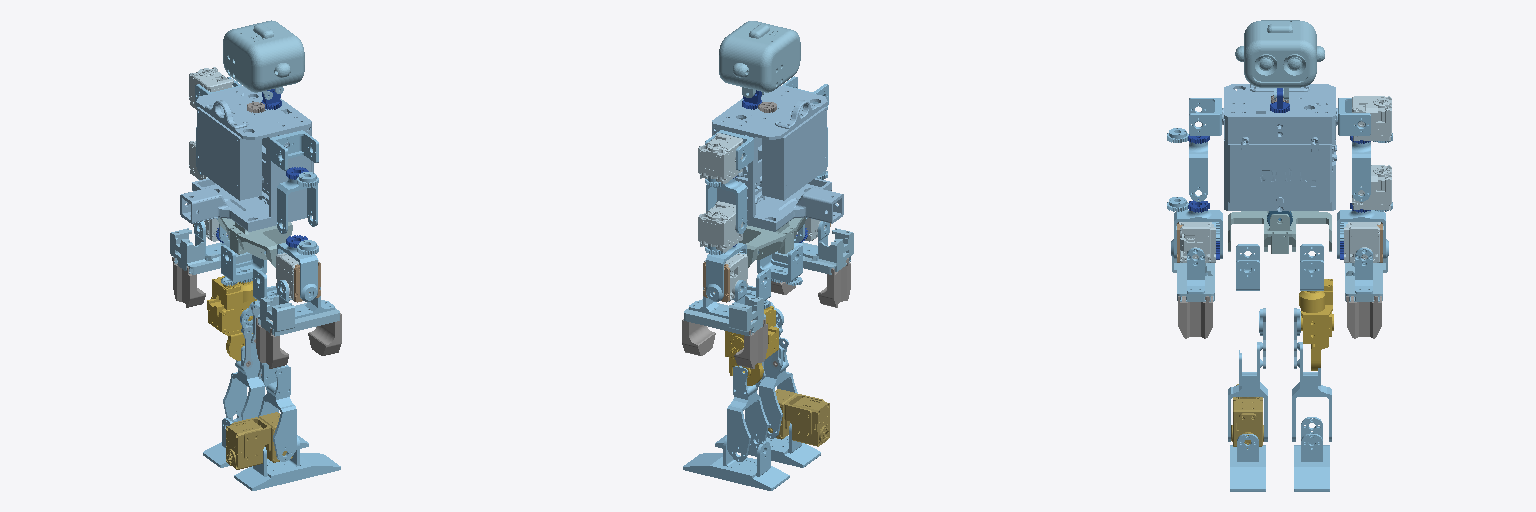
--- Render facts (derived) ---
Views: 3 orthographic renders of the robot side by side, from view 1: azimuth 30°, elevation 25°; view 2: azimuth 150°, elevation 25°; view 3: azimuth 270°, elevation 25°.
Model toddlerbot_gripper with 77 links and 76 joints (58 revolute, 4 prismatic, 14 fixed), rooted at torso, posed all joints at 0.
Visible links, largest first — view 1: torso, head, ank_roll_link_2, right_calf_link, right_ank_pitch_link, left_hip_pitch_link, left_calf_link, right_rail_guide, waist_link, left_rail_guide, sho_pitch_link_2, sho_yaw_link_2 (+9 smaller); view 2: torso, head, left_calf_link, ank_roll_link, right_ank_pitch_link, left_rail_guide, right_calf_link, 2xl430_gears, 2xl430_gears_2, waist_link, right_rail_guide, ank_roll_link_2 (+10 smaller); view 3: torso, head, ank_roll_link, waist_link, left_hip_pitch_link, ank_roll_link_2, 2xl430_gears, right_ank_pitch_link, right_calf_link, 2xl430_gears_3, 2xl430_gears_6, rail_2 (+15 smaller).
Boxes of the visible links, x1,y1,x2,y2 form: torso: (180, 86, 313, 231); head: (223, 20, 304, 92); ank_roll_link_2: (234, 436, 340, 490); right_calf_link: (258, 363, 296, 461); right_ank_pitch_link: (226, 412, 292, 469); left_hip_pitch_link: (207, 276, 256, 360); left_calf_link: (223, 334, 264, 422); right_rail_guide: (258, 296, 339, 336); waist_link: (218, 218, 292, 267); left_rail_guide: (170, 228, 251, 274); sho_pitch_link_2: (270, 130, 318, 170); sho_yaw_link_2: (277, 178, 317, 233); torso: (712, 86, 843, 231); head: (719, 21, 800, 97); left_calf_link: (727, 366, 768, 461); ank_roll_link: (683, 436, 789, 490); right_ank_pitch_link: (768, 389, 829, 446); left_rail_guide: (684, 296, 765, 335); right_calf_link: (759, 337, 797, 438); 2xl430_gears: (698, 133, 742, 183); 2xl430_gears_2: (698, 201, 742, 252); waist_link: (738, 217, 805, 267); right_rail_guide: (772, 228, 853, 274); ank_roll_link_2: (715, 423, 820, 467); torso: (1222, 84, 1337, 211); head: (1235, 20, 1324, 99); ank_roll_link: (1294, 417, 1329, 491); waist_link: (1228, 211, 1331, 253); left_hip_pitch_link: (1299, 279, 1333, 370); ank_roll_link_2: (1230, 434, 1265, 491); 2xl430_gears: (1352, 96, 1391, 140); right_ank_pitch_link: (1231, 384, 1263, 448); right_calf_link: (1228, 342, 1267, 441); 2xl430_gears_3: (1344, 222, 1380, 262); 2xl430_gears_6: (1179, 222, 1215, 262); rail_2: (1346, 296, 1381, 338).
Bounding box of the posed robot: 0.1752 × 0.2619 × 0.5614 m (x, y, z).
69 mesh visuals loaded from 77 distinct referenced files (69 binary STL); not drawn: 8 (reference not matched to a file when rendering).

robot.urdf — toddlerbot_gripper:
<?xml version="1.0" ?>
<robot name="toddlerbot_gripper">
  <mujoco>
    <compiler strippath="false" balanceinertia="true" discardvisual="false"/>
  </mujoco>
  <link name="torso">
    <visual>
      <origin xyz="0 0 0" rpy="0 -0 0"/>
      <geometry>
        <mesh filename="../assemblies/toddlerbot/meshes/torso_visual.stl"/>
      </geometry>
      <material name="torso_material">
        <color rgba="0.63866204066417398 0.79042612983052995546 0.89591918647189450198 1.0"/>
      </material>
    </visual>
    <collision name="torso_collision">
      <origin xyz="-0.02850000374019146 -5.000084638595581e-05 0.07068824046291411" rpy="0 0 0"/>
      <geometry>
        <box size="0.14100000634789467 0.13759998977184296 0.1454972173087299"/>
      </geometry>
    </collision>
    <inertial>
      <origin xyz="-0.0026180240206912603826 -0.0033389249991023252362 0.065426598309827305178" rpy="0 0 0"/>
      <mass value="1.085065963101202513"/>
      <inertia ixx="0.0028394422513802835238" ixy="7.2802503934375956997e-05" ixz="1.3076400897980156921e-05" iyy="0.002260906039368253042" iyz="-2.183962720868887802e-05" izz="0.0022996340769918456777"/>
    </inertial>
  </link>
  <link name="spur_1m_20t">
    <visual>
      <origin xyz="0 0 0" rpy="0 -0 0"/>
      <geometry>
        <mesh filename="../assemblies/toddlerbot/meshes/spur_1m_20t_visual.stl"/>
      </geometry>
      <material name="spur_1m_20t_material">
        <color rgba="0.64705882352941179736 0.64705882352941179736 0.64705882352941179736 1.0"/>
      </material>
    </visual>
    <inertial>
      <origin xyz="-1.1300904133467477148e-18 -8.2138761651919509895e-18 0.0033842321054344710884" rpy="0 0 0"/>
      <mass value="0.0015778025963746002049"/>
      <inertia ixx="4.5874424196602111379e-08" ixy="3.1933561703873518534e-24" ixz="8.2808267371582993255e-38" iyy="4.5874424196602091527e-08" iyz="-6.0163727915893723463e-38" izz="8.1737050837173876176e-08"/>
    </inertial>
  </link>
  <joint name="neck_yaw_drive" type="revolute">
    <origin xyz="-0.0049999999999995195857 2.6218353247046111074e-18 0.12148651076281755112" rpy="6.9435866101192579278e-15 7.3280040413333374539e-15 -5.2566133713766224513e-15"/>
    <parent link="torso"/>
    <child link="spur_1m_20t"/>
    <axis xyz="0 0 1"/>
    <limit effort="1" velocity="20" lower="-2.8797932657906435416" upper="2.8797932657906435416"/>
    <joint_properties friction="0.0"/>
  </joint>
  <link name="neck_yaw_link_v2">
    <visual>
      <origin xyz="0 0 0" rpy="0 -0 0"/>
      <geometry>
        <mesh filename="../assemblies/toddlerbot/meshes/neck_yaw_link_v2_visual.stl"/>
      </geometry>
      <material name="neck_yaw_link_v2_material">
        <color rgba="0.2313725490196078538 0.38039215686274513439 0.7058823529411765163 1.0"/>
      </material>
    </visual>
    <inertial>
      <origin xyz="-1.1403990895039929665e-06 -1.1841855607304331475e-10 0.0082571849701004625122" rpy="0 0 0"/>
      <mass value="0.0067298837334394097723"/>
      <inertia ixx="5.226606762476552417e-07" ixy="-6.304640079419265662e-15" ixz="1.1949403084477248015e-09" iyy="6.1218519979554078817e-07" iyz="-2.6012808779597337169e-15" izz="2.8062851709981670442e-07"/>
    </inertial>
  </link>
  <link name="head">
    <visual>
      <origin xyz="0 0 0" rpy="0 -0 0"/>
      <geometry>
        <mesh filename="../assemblies/toddlerbot/meshes/head_visual.stl"/>
      </geometry>
      <material name="head_material">
        <color rgba="0.62873939703496795062 0.79364291305093481732 0.87330110949792516539 1.0"/>
      </material>
    </visual>
    <inertial>
      <origin xyz="-0.045316002313821032721 -0.011276855645191508418 -0.0010251236602536308116" rpy="0 0 0"/>
      <mass value="0.13722101760550839411"/>
      <inertia ixx="0.00011880807294044862146" ixy="1.1390016804761055477e-06" ixz="1.8378816154939927108e-06" iyy="0.00010489076115433052991" iyz="-9.2536559812163435491e-06" izz="9.1894624061611778995e-05"/>
    </inertial>
  </link>
  <link name="motor_plate">
    <visual>
      <origin xyz="0 0 0" rpy="0 -0 0"/>
      <geometry>
        <mesh filename="../assemblies/toddlerbot/meshes/motor_plate_visual.stl"/>
      </geometry>
      <material name="motor_plate_material">
        <color rgba="0.64705882352941179736 0.64705882352941179736 0.64705882352941179736 1.0"/>
      </material>
    </visual>
    <inertial>
      <origin xyz="0 3.4694469519536141888e-18 -0.0028281768943845490144" rpy="0 0 0"/>
      <mass value="0.0016999999999999999053"/>
      <inertia ixx="4.8050290733103730215e-08" ixy="1.0773753257370437902e-09" ixz="2.6292013878342271482e-36" iyy="5.1782428339099030199e-08" iyz="4.6279080697707239297e-37" izz="9.2194729037862196389e-08"/>
    </inertial>
  </link>
  <link name="bearing_683">
    <visual>
      <origin xyz="0 0 0" rpy="0 -0 0"/>
      <geometry>
        <mesh filename="../assemblies/toddlerbot/meshes/bearing_683_visual.stl"/>
      </geometry>
      <material name="bearing_683_material">
        <color rgba="0.64705882352941179736 0.64705882352941179736 0.64705882352941179736 1.0"/>
      </material>
    </visual>
    <inertial>
      <origin xyz="-2.7648254672676526986e-17 2.7997443358460509995e-17 -0.0015500000000000008129" rpy="0 0 0"/>
      <mass value="0.00048694686130641793437"/>
      <inertia ixx="2.1551456503319879113e-09" ixy="1.0805664552050303029e-25" ixz="2.7791788803624942178e-38" iyy="2.1551456503319883249e-09" iyz="-6.2270811565965561025e-39" izz="3.5303647444715305817e-09"/>
    </inertial>
  </link>
  <joint name="neck_pitch_front_rev_2" type="revolute">
    <origin xyz="-0.0019411428382689055461 -0.0072444436971680244153 -0.0055000000000000014155" rpy="1.648198112299273894e-14 -4.6631263956190005776e-15 0.8807659428774070598"/>
    <parent link="motor_plate"/>
    <child link="bearing_683"/>
    <axis xyz="0 0 1"/>
    <limit effort="1" velocity="20" lower="-6.283185307179586232" upper="6.283185307179586232"/>
    <joint_properties friction="0.0"/>
  </joint>
  <link name="bearing_683_2">
    <visual>
      <origin xyz="0 0 0" rpy="0 -0 0"/>
      <geometry>
        <mesh filename="../assemblies/toddlerbot/meshes/bearing_683_2_visual.stl"/>
      </geometry>
      <material name="bearing_683_2_material">
        <color rgba="0.64705882352941179736 0.64705882352941179736 0.64705882352941179736 1.0"/>
      </material>
    </visual>
    <inertial>
      <origin xyz="1.0732094295237706334e-19 2.4186774283160206952e-19 -0.0015499999999999999455" rpy="0 0 0"/>
      <mass value="0.00048694686130641793437"/>
      <inertia ixx="2.1551456503319887385e-09" ixy="2.2768440186723943194e-25" ixz="-2.7783146208504636862e-41" iyy="2.1551456503319874977e-09" iyz="-4.0130515075389140523e-40" izz="3.5303647444715305817e-09"/>
    </inertial>
  </link>
  <joint name="neck_pitch_back_rev_2" type="revolute">
    <origin xyz="0.0019411428382688777905 0.0072444436971680035986 -0.0055000000000000014155" rpy="-1.772972718293551218e-13 -8.9252052021485662993e-14 0.877871016585597852"/>
    <parent link="motor_plate"/>
    <child link="bearing_683_2"/>
    <axis xyz="0 0 1"/>
    <limit effort="1" velocity="20" lower="-6.283185307179586232" upper="6.283185307179586232"/>
    <joint_properties friction="0.0"/>
  </joint>
  <joint name="neck_pitch_act" type="revolute">
    <origin xyz="-0.03261569771856148714 -0.026999999999999829692 0.0025000000000000568642" rpy="-3.1415926535897500393 -1.9259241935317556699e-13 -3.1415926535897105154"/>
    <parent link="head"/>
    <child link="motor_plate"/>
    <axis xyz="0 0 1"/>
    <limit effort="1" velocity="20" lower="-1.3962634015954635824" upper="0.61086523819801530344"/>
    <joint_properties friction="0.0"/>
  </joint>
  <joint name="neck_pitch" type="revolute">
    <origin xyz="4.0939474033052647428e-16 0.0039999999999996652816 0.019399999999999681388" rpy="-1.570796326794896558 1.5671692223473558947 3.1415926535895866145"/>
    <parent link="neck_yaw_link_v2"/>
    <child link="head"/>
    <axis xyz="0 0 1"/>
    <limit effort="1" velocity="20" lower="-1.3962634015954635824" upper="0.61086523819801530344"/>
    <joint_properties friction="0.0"/>
  </joint>
  <link name="neck_rod">
    <visual>
      <origin xyz="0 0 0" rpy="0 -0 0"/>
      <geometry>
        <mesh filename="../assemblies/toddlerbot/meshes/neck_rod_visual.stl"/>
      </geometry>
      <material name="neck_rod_material">
        <color rgba="0.62051618944235187314 0.78640765248647570562 0.88594253031295011613 1.0"/>
      </material>
    </visual>
    <inertial>
      <origin xyz="0.017942953356017549843 -4.2302323058491907029e-05 -0.0016023848482654536388" rpy="0 0 0"/>
      <mass value="0.0031629468613064174939"/>
      <inertia ixx="1.6183187611801482051e-08" ixy="4.3686324078027123917e-10" ixz="5.409871828883835504e-10" iyy="7.9430220338146775594e-07" iyz="-1.2754318712098216996e-12" izz="8.0573905690504716438e-07"/>
    </inertial>
  </link>
  <joint name="neck_pitch_front_rev_1" type="revolute">
    <origin xyz="-0.0072444436971676028775 -0.0040000000000003348849 0.017458857161730803598" rpy="1.5707963267945912467 -0.88439304732486501148 -3.1415926535895128957"/>
    <parent link="neck_yaw_link_v2"/>
    <child link="neck_rod"/>
    <axis xyz="0 0 1"/>
    <limit effort="1" velocity="20" lower="-6.283185307179586232" upper="6.283185307179586232"/>
    <joint_properties friction="0.0"/>
  </joint>
  <link name="neck_rod_2">
    <visual>
      <origin xyz="0 0 0" rpy="0 -0 0"/>
      <geometry>
        <mesh filename="../assemblies/toddlerbot/meshes/neck_rod_2_visual.stl"/>
      </geometry>
      <material name="neck_rod_2_material">
        <color rgba="0.62051618944235187314 0.78640765248647570562 0.88594253031295011613 1.0"/>
      </material>
    </visual>
    <inertial>
      <origin xyz="0.017901072327987890831 4.2302323075698717279e-05 -0.0016023848482719094122" rpy="0 0 0"/>
      <mass value="0.0031629468613064174939"/>
      <inertia ixx="1.618318761180265003e-08" ixy="-4.3584354920108695193e-10" ixz="5.3972445329606849492e-10" iyy="7.9343818800635532239e-07" iyz="1.2754318723706440774e-12" izz="8.0487504152993547198e-07"/>
    </inertial>
  </link>
  <joint name="neck_pitch_back_rev_1" type="revolute">
    <origin xyz="0.0072444436971684372795 -0.0040000000000003444259 0.021341142838268642445" rpy="1.57079632679489678 -0.88149812103305569266 3.141592653589793116"/>
    <parent link="neck_yaw_link_v2"/>
    <child link="neck_rod_2"/>
    <axis xyz="0 0 1"/>
    <limit effort="1" velocity="20" lower="-6.283185307179586232" upper="6.283185307179586232"/>
    <joint_properties friction="0.0"/>
  </joint>
  <joint name="neck_yaw_driven" type="revolute">
    <origin xyz="0.016000000000000187683 3.3495693113774157688e-16 0.12248651076281769079" rpy="1.1355899249689346505e-28 4.0151578034893218507e-15 -8.6007558735577894134e-16"/>
    <parent link="torso"/>
    <child link="neck_yaw_link_v2"/>
    <axis xyz="0 0 1"/>
    <limit effort="1" velocity="20" lower="-2.6179938779914944114" upper="2.6179938779914944114"/>
    <joint_properties friction="0.0"/>
  </joint>
  <link name="waist_gears">
    <visual>
      <origin xyz="0 0 0" rpy="0 -0 0"/>
      <geometry>
        <mesh filename="../assemblies/toddlerbot/meshes/waist_gears_visual.stl"/>
      </geometry>
      <material name="waist_gears_material">
        <color rgba="0.29673072126509869584 0.50090014891145373532 0.63316042503557945498 1.0"/>
      </material>
    </visual>
    <inertial>
      <origin xyz="-2.908902430919231e-07 5.5035553754012024303e-08 -0.012592985430860473284" rpy="0 0 0"/>
      <mass value="0.026337180140419177987"/>
      <inertia ixx="1.5367047941033391468e-06" ixy="1.8828487086056562372e-11" ixz="4.0600521961735931123e-10" iyy="7.3024712275450283125e-06" iyz="3.2911737859007853936e-12" izz="6.9859065635059256703e-06"/>
    </inertial>
  </link>
  <link name="waist_link">
    <visual>
      <origin xyz="0 0 0" rpy="0 -0 0"/>
      <geometry>
        <mesh filename="../assemblies/toddlerbot/meshes/waist_link_visual.stl"/>
      </geometry>
      <material name="waist_link_material">
        <color rgba="0.64205964988973118768 0.77112878115803895618 0.80455743168009175026 1.0"/>
      </material>
    </visual>
    <collision name="waist_link_collision">
      <origin xyz="0.0 -0.021850000135600567 -0.022750000469386578" rpy="0 0 0"/>
      <geometry>
        <box size="0.11999999731779099 0.057499999180436134 0.07000000216066837"/>
      </geometry>
    </collision>
    <inertial>
      <origin xyz="-1.5259387594791803393e-17 -0.024647143936898239375 -0.024243097328499926824" rpy="0 0 0"/>
      <mass value="0.10819999998618363979"/>
      <inertia ixx="4.7479700735669831376e-05" ixy="-4.0569486732969518828e-20" ixz="-5.6250747312697810454e-09" iyy="9.6352172992785395161e-05" iyz="1.5514215856080582023e-06" izz="6.724924647302820465e-05"/>
    </inertial>
  </link>
  <link name="spiral_bevel_1m_14t_30deg">
    <visual>
      <origin xyz="0 0 0" rpy="0 -0 0"/>
      <geometry>
        <mesh filename="../assemblies/toddlerbot/meshes/spiral_bevel_1m_14t_30deg_visual.stl"/>
      </geometry>
      <material name="spiral_bevel_1m_14t_30deg_material">
        <color rgba="0.64705882352941179736 0.64705882352941179736 0.64705882352941179736 1.0"/>
      </material>
    </visual>
    <inertial>
      <origin xyz="7.4971447279470481499e-10 7.1802237549753455959e-10 0.0066868955018979121113" rpy="0 0 0"/>
      <mass value="0.00073261524436595492574"/>
      <inertia ixx="1.3495056019478195011e-08" ixy="4.0596681656909248509e-17" ixz="8.5992550180286643448e-16" iyy="1.3495056150237195634e-08" iyz="-6.7913008238911449477e-16" izz="1.4355986549816401791e-08"/>
    </inertial>
  </link>
  <joint name="waist_act_1" type="revolute">
    <origin xyz="1.5779046203862292755e-18 -0.019600000000000009776 -0.012750000000000000916" rpy="1.570796326794896336 4.5657245710443242119e-14 3.1415926535897775729"/>
    <parent link="waist_link"/>
    <child link="spiral_bevel_1m_14t_30deg"/>
    <axis xyz="0 0 1"/>
    <limit effort="1" velocity="20" lower="-4.6774823953448034786" upper="4.6774823953448034786"/>
    <joint_properties friction="0.0"/>
  </joint>
  <link name="spiral_bevel_1m_14t_30deg_2">
    <visual>
      <origin xyz="0 0 0" rpy="0 -0 0"/>
      <geometry>
        <mesh filename="../assemblies/toddlerbot/meshes/spiral_bevel_1m_14t_30deg_2_visual.stl"/>
      </geometry>
      <material name="spiral_bevel_1m_14t_30deg_2_material">
        <color rgba="0.64705882352941179736 0.64705882352941179736 0.64705882352941179736 1.0"/>
      </material>
    </visual>
    <inertial>
      <origin xyz="3.6393116992217144912e-10 -9.7220472557862924745e-10 -0.0066868955018979155808" rpy="0 0 0"/>
      <mass value="0.00073261524436595492574"/>
      <inertia ixx="1.3495056012354477525e-08" ixy="2.5804135492145296637e-17" ixz="-1.0694296052499994646e-15" iyy="1.3495056157360913119e-08" iyz="-2.3876736942924337051e-16" izz="1.4355986549816401791e-08"/>
    </inertial>
  </link>
  <joint name="waist_act_2" type="revolute">
    <origin xyz="-4.2424946903466443955e-18 -0.019600000000000016714 -0.03275000000000001521" rpy="-1.570796326794896558 4.4675706846037577046e-14 3.1415926535897922278"/>
    <parent link="waist_link"/>
    <child link="spiral_bevel_1m_14t_30deg_2"/>
    <axis xyz="0 0 1"/>
    <limit effort="1" velocity="20" lower="-4.6774823953448034786" upper="4.6774823953448034786"/>
    <joint_properties friction="0.0"/>
  </joint>
  <joint name="left_hip_pitch" type="revolute">
    <origin xyz="0.056000000000000001166 -0.040099999999999996758 -0.022750000000000002859" rpy="-1.570796326794896558 1.184178074896365092e-14 1.5707963267948958919"/>
    <parent link="waist_link"/>
    <child link="2xc430"/>
    <axis xyz="0 0 1"/>
    <limit effort="1" velocity="20" lower="-1.570796326794896558" upper="2.356194490192344837"/>
    <joint_properties friction="0.0"/>
  </joint>
  <joint name="right_hip_pitch" type="revolute">
    <origin xyz="-0.056000000000000008105 -0.040100000000000010636 -0.022750000000000002859" rpy="1.57079632679489678 -3.5857808115535774538e-14 1.5707963267948972241"/>
    <parent link="waist_link"/>
    <child link="2xc430_2"/>
    <axis xyz="0 0 1"/>
    <limit effort="1" velocity="20" lower="-2.356194490192344837" upper="1.570796326794896558"/>
    <joint_properties friction="0.0"/>
  </joint>
  <joint name="waist_roll" type="revolute">
    <origin xyz="-0.022707865260692374626 -6.1958282368095533642e-18 -0.01399999999999982335" rpy="1.5707963267948978903 -1.9153977176001457857e-13 -1.570796326794896336"/>
    <parent link="waist_gears"/>
    <child link="waist_link"/>
    <axis xyz="0 0 1"/>
    <limit effort="1" velocity="20" lower="-0.52359877559829881566" upper="0.52359877559829881566"/>
    <joint_properties friction="0.0"/>
  </joint>
  <joint name="waist_yaw" type="revolute">
    <origin xyz="0 3.9443045261050590271e-31 0" rpy="-6.9406589306071306764e-17 -4.2741086826404963114e-15 -3.1415926535897500393"/>
    <parent link="torso"/>
    <child link="waist_gears"/>
    <axis xyz="0 0 1"/>
    <limit effort="1" velocity="20" lower="-1.570796326794896558" upper="1.570796326794896558"/>
    <joint_properties friction="0.0"/>
  </joint>
  <joint name="left_sho_pitch" type="revolute">
    <origin xyz="-0.0035000000000003916867 0.067000000000001030953 0.10423651076281714722" rpy="-1.5707963267949094366 -4.1189274213593181432e-14 3.6803893266323825719e-14"/>
    <parent link="torso"/>
    <child link="sho_pitch_link"/>
    <axis xyz="0 0 1"/>
    <limit effort="1" velocity="20" lower="-3.141592653589793116" upper="1.570796326794896558"/>
    <joint_properties friction="0.0"/>
  </joint>
  <joint name="right_sho_pitch" type="revolute">
    <origin xyz="-0.003499999999998670841 -0.067000000000001086464 0.10423651076281725825" rpy="-1.5707963267948874542 3.4821687755471215053e-14 -3.1415926535897615857"/>
    <parent link="torso"/>
    <child link="sho_pitch_link_2"/>
    <axis xyz="0 0 1"/>
    <limit effort="1" velocity="20" lower="-1.570796326794896558" upper="3.141592653589793116"/>
    <joint_properties friction="0.0"/>
  </joint>
  <link name="2xc430">
    <visual>
      <origin xyz="0 0 0" rpy="0 -0 0"/>
      <geometry>
        <mesh filename="../assemblies/left_leg_reorder/meshes/left_2xc430_visual.stl"/>
      </geometry>
      <material name="2xc430_material">
        <color rgba="0.51698661238356047321 0.50347815951093488618 0.49050589017722012741 1.0"/>
      </material>
    </visual>
    <inertial>
      <origin xyz="-0.0120001511339564923 0.00049588831385626367092 0.01850401924450319896" rpy="0 0 0"/>
      <mass value="0.11059999999836234164"/>
      <inertia ixx="2.2818802599017385101e-05" ixy="4.6888548258345894655e-08" ixz="4.6520143289217505514e-08" iyy="3.0871666424467696587e-05" iyz="-5.7477343899723834052e-07" izz="3.0871632082336744173e-05"/>
    </inertial>
  </link>
  <link name="hip_yaw_link">
    <visual>
      <origin xyz="0 0 0" rpy="0 -0 0"/>
      <geometry>
        <mesh filename="../assemblies/left_leg_reorder/meshes/left_hip_yaw_link_visual.stl"/>
      </geometry>
      <material name="hip_yaw_link_material">
        <color rgba="0.61568627450980395466 0.81176470588235294379 0.92941176470588238168 1.0"/>
      </material>
    </visual>
    <inertial>
      <origin xyz="-2.6788828011920776553e-18 -0.015800610849654273676 -0.019005670096647751116" rpy="0 0 0"/>
      <mass value="0.013199999999999992989"/>
      <inertia ixx="5.789461597517412337e-06" ixy="-8.9146992682572530072e-42" ixz="2.3029045376022530017e-38" iyy="5.0110144042848776317e-06" iyz="1.1826010760651176287e-09" izz="2.7344876354814331659e-06"/>
    </inertial>
  </link>
  <link name="spur_gear_21_teeth">
    <visual>
      <origin xyz="0 0 0" rpy="0 -0 0"/>
      <geometry>
        <mesh filename="../assemblies/left_leg_reorder/meshes/left_spur_gear_21_teeth_visual.stl"/>
      </geometry>
      <material name="spur_gear_21_teeth_material">
        <color rgba="0.61568627450980395466 0.81176470588235294379 0.9294117647058824927 1.0"/>
      </material>
    </visual>
    <inertial>
      <origin xyz="-4.5505289335411606329e-11 -1.6782167131337769527e-11 -0.00249241020062506086" rpy="0 0 0"/>
      <mass value="0.0022000000000000001325"/>
      <inertia ixx="7.0162310059594196881e-08" ixy="0" ixz="3.5821515246363659276e-39" iyy="7.016231005804746178e-08" iyz="3.4592689640492888782e-39" izz="1.3125544198538289306e-07"/>
    </inertial>
  </link>
  <link name="left_hip_pitch_link">
    <visual>
      <origin xyz="0 0 0" rpy="0 -0 0"/>
      <geometry>
        <mesh filename="../assemblies/left_leg_reorder/meshes/left_hip_pitch_link_visual.stl"/>
      </geometry>
      <material name="left_hip_pitch_link_material">
        <color rgba="0.80773802221328794282 0.71541030077254164077 0.35058406659986895981 1.0"/>
      </material>
    </visual>
    <collision name="left_hip_pitch_link_collision">
      <origin xyz="-0.009275000542402267 -0.004349999129772186 0.05247500166296959" rpy="0 0 0"/>
      <geometry>
        <box size="0.05855000019073486 0.042399998754262924 0.10495000332593918"/>
      </geometry>
    </collision>
    <inertial>
      <origin xyz="-0.0099310748247876095424 -0.0055733268638735221703 0.039014117054800540041" rpy="0 0 0"/>
      <mass value="0.14895408167669133004"/>
      <inertia ixx="7.3955327919484554534e-05" ixy="-1.1805488631449676488e-06" ixz="-8.0603251552292261945e-06" iyy="8.8995102919697799664e-05" iyz="1.1275669888581082312e-06" izz="4.229226925645443425e-05"/>
    </inertial>
  </link>
  <link name="spur_gear_18_teeth">
    <visual>
      <origin xyz="0 0 0" rpy="0 -0 0"/>
      <geometry>
        <mesh filename="../assemblies/left_leg_reorder/meshes/left_spur_gear_18_teeth_visual.stl"/>
      </geometry>
      <material name="spur_gear_18_teeth_material">
        <color rgba="0.61568627450980395466 0.81176470588235294379 0.92941176470588238168 1.0"/>
      </material>
    </visual>
    <inertial>
      <origin xyz="-5.1949311242382435497e-14 -2.4694124227557309252e-13 0.0071513122316232257542" rpy="0 0 0"/>
      <mass value="0.00080399356292630238564"/>
      <inertia ixx="2.0123636882888889372e-08" ixy="2.1553335600797640032e-16" ixz="-2.0678132065284356934e-39" iyy="2.012363672795583975e-08" iyz="-1.9859628258607443751e-39" izz="3.1595601997159143493e-08"/>
    </inertial>
  </link>
  <joint name="left_hip_yaw_drive" type="revolute">
    <origin xyz="-0.019199999999995859268 0.00020000000000327047833 0.0064999999999706542519" rpy="-3.1415926535897922278 -1.1023290397713749775e-15 3.1415926535897926719"/>
    <parent link="left_hip_pitch_link"/>
    <child link="spur_gear_18_teeth"/>
    <axis xyz="0 0 1"/>
    <limit effort="1" velocity="20" lower="-1.8325957145940461324" upper="1.8325957145940461324"/>
    <joint_properties friction="0.0"/>
  </joint>
  <link name="left_calf_link">
    <visual>
      <origin xyz="0 0 0" rpy="0 -0 0"/>
      <geometry>
        <mesh filename="../assemblies/left_leg_reorder/meshes/left_calf_link_visual.stl"/>
      </geometry>
      <material name="left_calf_link_material">
        <color rgba="0.61568627450980395466 0.81176470588235294379 0.92941176470588238168 1.0"/>
      </material>
    </visual>
    <inertial>
      <origin xyz="-0.0043450054391243842986 0.040752982165250653535 0.0087116093515534290953" rpy="0 0 0"/>
      <mass value="0.030999999999999992839"/>
      <inertia ixx="3.3069388685112529225e-05" ixy="-1.3783307153200129991e-06" ixz="-1.2742534026331719223e-07" iyy="7.7316525337314278736e-06" iyz="-7.3356500593883571098e-08" izz="2.8031377753987348096e-05"/>
    </inertial>
  </link>
  <link name="bearing_683_3">
    <visual>
      <origin xyz="0 0 0" rpy="0 -0 0"/>
      <geometry>
        <mesh filename="../assemblies/left_leg_reorder/meshes/left_bearing_683_visual.stl"/>
      </geometry>
      <material name="bearing_683_material">
        <color rgba="0.64705882352941179736 0.64705882352941179736 0.64705882352941179736 1.0"/>
      </material>
    </visual>
    <inertial>
      <origin xyz="-2.7648254672676536231e-17 -2.4186774283160226211e-19 -0.0015500000000000003792" rpy="0 0 0"/>
      <mass value="0.00048694686130641793437"/>
      <inertia ixx="2.1551456503319887385e-09" ixy="4.9267306786690215198e-28" ixz="-6.9624168202103941184e-40" iyy="2.1551456503319883249e-09" iyz="0" izz="3.5303647444715305817e-09"/>
    </inertial>
  </link>
  <joint name="left_knee_front_rev_2" type="revolute">
    <origin xyz="-0.0057402514854764446692 -0.013858192987668910279 0.026199999999999806777" rpy="3.141592653589793116 -2.6658986873461889469e-19 -1.5720018459275955092"/>
    <parent link="left_calf_link"/>
    <child link="bearing_683_3"/>
    <axis xyz="0 0 1"/>
    <limit effort="1" velocity="20"/>
    <joint_properties friction="0.0"/>
  </joint>
  <link name="bearing_683_4">
    <visual>
      <origin xyz="0 0 0" rpy="0 -0 0"/>
      <geometry>
        <mesh filename="../assemblies/left_leg_reorder/meshes/left_bearing_683_2_visual.stl"/>
      </geometry>
      <material name="bearing_683_2_material">
        <color rgba="0.64705882352941179736 0.64705882352941179736 0.64705882352941179736 1.0"/>
      </material>
    </visual>
    <inertial>
      <origin xyz="1.0732094295237771334e-19 -1.1092294808200058093e-18 -0.0015500000000000003792" rpy="0 0 0"/>
      <mass value="0.00048694686130641793437"/>
      <inertia ixx="2.1551456503319895657e-09" ixy="-5.8026584312313582246e-29" ixz="-2.2425384383440883957e-39" iyy="2.1551456503319883249e-09" iyz="1.1443785659275753027e-59" izz="3.5303647444715305817e-09"/>
    </inertial>
  </link>
  <joint name="left_knee_back_rev_2" type="revolute">
    <origin xyz="0.0057402514854763128302 0.013858192987669520901 0.026199999999999820655" rpy="3.1415926535897926719 1.2765047101265124586e-15 -1.5719345627640661789"/>
    <parent link="left_calf_link"/>
    <child link="bearing_683_4"/>
    <axis xyz="0 0 1"/>
    <limit effort="1" velocity="20"/>
    <joint_properties friction="0.0"/>
  </joint>
  <link name="left_ank_pitch_link">
    <visual>
      <origin xyz="0 0 0" rpy="0 -0 0"/>
      <geometry>
        <mesh filename="../assemblies/left_leg_reorder/meshes/left_ank_pitch_link_visual.stl"/>
      </geometry>
      <material name="left_ank_pitch_link_material">
        <color rgba="0.70321688500203349825 0.64514870846184457776 0.40484735422826251261 1.0"/>
      </material>
    </visual>
    <collision name="left_ank_pitch_link_collision">
      <origin xyz="0.01934999879449606 0.012000000104308128 0.016799999633803964" rpy="0 0 0"/>
      <geometry>
        <box size="0.084799999371171 0.04650000110268593 0.046639998117461806"/>
      </geometry>
    </collision>
    <inertial>
      <origin xyz="0.017770241891401045847 0.012301334508572351473 0.018813528244421662966" rpy="0 0 0"/>
      <mass value="0.1767637669506791076"/>
      <inertia ixx="4.7283316680253283646e-05" ixy="-1.3380598598450345022e-06" ixz="-5.5304058905127566903e-07" iyy="0.00010706456048089217008" iyz="-5.322513783954201532e-08" izz="0.00012185522397136366337"/>
    </inertial>
  </link>
  <link name="ank_roll_link">
    <visual>
      <origin xyz="0 0 0" rpy="0 -0 0"/>
      <geometry>
        <mesh filename="../assemblies/left_leg_reorder/meshes/left_ank_roll_link_visual.stl"/>
      </geometry>
      <material name="ank_roll_link_material">
        <color rgba="0.61568627450980384364 0.81176470588235283277 0.92941176470588227065 1.0"/>
      </material>
    </visual>
    <collision name="ank_roll_link_collision">
      <origin xyz="-0.014500000514090061 0.0 0.038999998942017555" rpy="0 0 0"/>
      <geometry>
        <box size="0.04900000058114529 0.041999999433755875 0.12000000104308128"/>
      </geometry>
    </collision>
    <inertial>
      <origin xyz="-0.027003066516822063492 -2.0057306044881892286e-12 0.033764011359896428655" rpy="0 0 0"/>
      <mass value="0.042600000000000012856"/>
      <inertia ixx="3.7284397827464409376e-05" ixy="-5.5175845547796796131e-16" ixz="2.3929183768080916145e-06" iyy="3.7589276943350443088e-05" iyz="5.0934855377808009464e-12" izz="1.0090430906786770866e-05"/>
    </inertial>
  </link>
  <joint name="left_ank_roll" type="revolute">
    <origin xyz="0.022749999999983960136 -6.9111383282915994641e-15 0.019000000000000714234" rpy="-1.5707963267949474062 -1.4843511765636387656e-14 1.5707963267950975084"/>
    <parent link="left_ank_pitch_link"/>
    <child link="ank_roll_link"/>
    <axis xyz="0 0 1"/>
    <limit effort="1" velocity="20" lower="-1.570796326794896558" upper="1.570796326794896558"/>
    <joint_properties friction="0.0"/>
  </joint>
  <joint name="left_ank_pitch" type="revolute">
    <origin xyz="6.0459825159226438491e-16 0.099999999999999644729 0.027749999999999767908" rpy="-3.1415926535897926719 2.1632341620044295324e-16 -3.303485617132085651e-14"/>
    <parent link="left_calf_link"/>
    <child link="left_ank_pitch_link"/>
    <axis xyz="0 0 1"/>
    <limit effort="1" velocity="20" lower="-1.7453292519943295336" upper="0.785398163397448279"/>
    <joint_properties friction="0.0"/>
  </joint>
  <joint name="left_knee" type="revolute">
    <origin xyz="-2.0388404761970504005e-17 -0.0087500000000001014466 0.085949999999999859845" rpy="1.5707963267948985564 1.8697993545483485847e-15 3.1415926535897922278"/>
    <parent link="left_hip_pitch_link"/>
    <child link="left_calf_link"/>
    <axis xyz="0 0 1"/>
    <limit effort="1" velocity="20" lower="-2.0943951023931952626" upper="0"/>
    <joint_properties friction="0.0"/>
  </joint>
  <link name="xm430_plate">
    <visual>
      <origin xyz="0 0 0" rpy="0 -0 0"/>
      <geometry>
        <mesh filename="../assemblies/left_leg_reorder/meshes/left_xm430_plate_visual.stl"/>
      </geometry>
      <material name="xm430_plate_material">
        <color rgba="0.61568627450980395466 0.81176470588235294379 0.92941176470588227065 1.0"/>
      </material>
    </visual>
    <inertial>
      <origin xyz="1.4071106902214798841e-18 -2.6039898032607076159e-18 0.0025278513919583887187" rpy="0 0 0"/>
      <mass value="0.0026999999999999997093"/>
      <inertia ixx="1.2887178787151822041e-07" ixy="5.87395625563035933e-08" ixz="-1.7975784406729202332e-38" iyy="2.4635091298412534083e-07" iyz="-4.0956813139218174709e-39" izz="3.6467998413810316538e-07"/>
    </inertial>
  </link>
  <link name="knee_rod">
    <visual>
      <origin xyz="0 0 0" rpy="0 -0 0"/>
      <geometry>
        <mesh filename="../assemblies/left_leg_reorder/meshes/left_knee_rod_visual.stl"/>
      </geometry>
      <material name="knee_rod_material">
        <color rgba="0.62051618944235198416 0.78640765248647581664 0.88594253031295011613 1.0"/>
      </material>
    </visual>
    <inertial>
      <origin xyz="0.017534287432906647125 -4.2275889155916718482e-05 -0.0015987301647640860848" rpy="0 0 0"/>
      <mass value="0.003162946861306418795"/>
      <inertia ixx="2.4225257802878432684e-08" ixy="4.2664654149332194328e-10" ixz="4.9178282652746138198e-10" iyy="8.1758847647263870163e-07" iyz="-1.1857086489790707382e-12" izz="8.370492537402261536e-07"/>
    </inertial>
  </link>
  <joint name="left_knee_front_rev_1" type="revolute">
    <origin xyz="0.013858192987669312735 -0.0057402514854763518615 0.0050000000000000183187" rpy="-3.1415926535897926719 5.565031046053354564e-16 3.1403871344570974955"/>
    <parent link="xm430_plate"/>
    <child link="knee_rod"/>
    <axis xyz="0 0 1"/>
    <limit effort="1" velocity="20"/>
    <joint_properties friction="0.0"/>
  </joint>
  <link name="knee_rod_2">
    <visual>
      <origin xyz="0 0 0" rpy="0 -0 0"/>
      <geometry>
        <mesh filename="../assemblies/left_leg_reorder/meshes/left_knee_rod_2_visual.stl"/>
      </geometry>
      <material name="knee_rod_2_material">
        <color rgba="0.62051618944235198416 0.78640765248647581664 0.88594253031295011613 1.0"/>
      </material>
    </visual>
    <inertial>
      <origin xyz="0.017534290197983727622 -3.9916362690055996005e-05 -0.0015987301647640411988" rpy="0 0 0"/>
      <mass value="0.003162946861306418795"/>
      <inertia ixx="2.4225146182602337484e-08" ixy="4.0283436058596815725e-10" ixz="4.9178290407814696075e-10" iyy="8.1758853228271188338e-07" iyz="-1.1195311895769243565e-12" izz="8.3704919793004433987e-07"/>
    </inertial>
  </link>
  <joint name="left_knee_back_rev_1" type="revolute">
    <origin xyz="-0.013858192987669271101 0.0057402514854763241059 0.0050000000000000391354" rpy="-3.1415926535897922278 -2.1080453069702113353e-15 3.1404544176206248274"/>
    <parent link="xm430_plate"/>
    <child link="knee_rod_2"/>
    <axis xyz="0 0 1"/>
    <limit effort="1" velocity="20"/>
    <joint_properties friction="0.0"/>
  </joint>
  <joint name="left_knee_act" type="revolute">
    <origin xyz="6.9695166342471272367e-17 0.012449999999999992323 0.044500000000000053402" rpy="-1.5707963267948956698 1.5707963267948954478 0"/>
    <parent link="left_hip_pitch_link"/>
    <child link="xm430_plate"/>
    <axis xyz="0 0 1"/>
    <limit effort="1" velocity="20" lower="-2.0943951023931952626" upper="0"/>
    <joint_properties friction="0.0"/>
  </joint>
  <joint name="left_hip_yaw_driven" type="revolute">
    <origin xyz="-1.0958428267520217697e-17 2.0816681711721685133e-17 -0.0050000000000001224021" rpy="-3.1415926535897926719 -1.458624115281054252e-15 -4.4435634532580858026e-16"/>
    <parent link="spur_gear_21_teeth"/>
    <child link="left_hip_pitch_link"/>
    <axis xyz="0 0 1"/>
    <limit effort="1" velocity="20" lower="-1.570796326794896558" upper="1.570796326794896558"/>
    <joint_properties friction="0.0"/>
  </joint>
  <joint name="left_hip_yaw_fixed" type="fixed">
    <origin xyz="-3.4694469519536141888e-18 -0.027999999999999986705 -0.018999999999999999528" rpy="-1.5707963267948972241 1.5707963267948956698 0"/>
    <parent link="hip_yaw_link"/>
    <child link="spur_gear_21_teeth"/>
    <axis xyz="0 0 1"/>
    <limit effort="1" velocity="20"/>
    <joint_properties friction="0.0"/>
  </joint>
  <joint name="left_hip_roll" type="revolute">
    <origin xyz="-0.024000000716139988088 0.019000000152447765744 0.019000000152447751867" rpy="-1.5707963267948970021 -1.5707963267948961139 0"/>
    <parent link="2xc430"/>
    <child link="hip_yaw_link"/>
    <axis xyz="0 0 1"/>
    <limit effort="1" velocity="20" lower="-0.785398163397448279" upper="0.785398163397448279"/>
    <joint_properties friction="0.0"/>
  </joint>
  <link name="2xc430_2">
    <visual>
      <origin xyz="0 0 0" rpy="0 -0 0"/>
      <geometry>
        <mesh filename="../assemblies/right_leg_reorder/meshes/right_2xc430_visual.stl"/>
      </geometry>
      <material name="2xc430_material">
        <color rgba="0.51698661238356047321 0.50347815951093488618 0.49050589017722012741 1.0"/>
      </material>
    </visual>
    <inertial>
      <origin xyz="-0.0120001511339564923 0.00049588831385626367092 0.01850401924450319896" rpy="0 0 0"/>
      <mass value="0.11059999999836234164"/>
      <inertia ixx="2.2818802599017385101e-05" ixy="4.6888548258345894655e-08" ixz="4.6520143289217505514e-08" iyy="3.0871666424467696587e-05" iyz="-5.7477343899723834052e-07" izz="3.0871632082336744173e-05"/>
    </inertial>
  </link>
  <link name="hip_yaw_link_2">
    <visual>
      <origin xyz="0 0 0" rpy="0 -0 0"/>
      <geometry>
        <mesh filename="../assemblies/right_leg_reorder/meshes/right_hip_yaw_link_visual.stl"/>
      </geometry>
      <material name="hip_yaw_link_material">
        <color rgba="0.61568627450980395466 0.81176470588235294379 0.92941176470588238168 1.0"/>
      </material>
    </visual>
    <inertial>
      <origin xyz="-6.1483297531456918442e-18 -0.015800610849654273676 -0.019005670096647751116" rpy="0 0 0"/>
      <mass value="0.013199999999999992989"/>
      <inertia ixx="5.789461597517412337e-06" ixy="0" ixz="0" iyy="5.0110144042848776317e-06" iyz="1.1826010760651176287e-09" izz="2.7344876354814331659e-06"/>
    </inertial>
  </link>
  <link name="spur_gear_21_teeth_2">
    <visual>
      <origin xyz="0 0 0" rpy="0 -0 0"/>
      <geometry>
        <mesh filename="../assemblies/right_leg_reorder/meshes/right_spur_gear_21_teeth_visual.stl"/>
      </geometry>
      <material name="spur_gear_21_teeth_material">
        <color rgba="0.61568627450980395466 0.81176470588235294379 0.9294117647058824927 1.0"/>
      </material>
    </visual>
    <inertial>
      <origin xyz="-4.5505289335411606329e-11 -1.6782167131337769527e-11 -0.00249241020062506086" rpy="0 0 0"/>
      <mass value="0.0022000000000000001325"/>
      <inertia ixx="7.0162310059594196881e-08" ixy="-8.6481724095232400255e-40" ixz="5.9015579823613624977e-39" iyy="7.016231005804746178e-08" iyz="-2.0034010754136097062e-38" izz="1.3125544198538289306e-07"/>
    </inertial>
  </link>
  <link name="right_hip_pitch_link">
    <visual>
      <origin xyz="0 0 0" rpy="0 -0 0"/>
      <geometry>
        <mesh filename="../assemblies/right_leg_reorder/meshes/right_hip_pitch_link_visual.stl"/>
      </geometry>
      <material name="right_hip_pitch_link_material">
        <color rgba="0.81231119922470307326 0.7131158892107314351 0.33680089849959421455 1.0"/>
      </material>
    </visual>
    <collision name="right_hip_pitch_link_collision">
      <origin xyz="0.009275000542402267 -0.004349999129772186 0.05247500166296959" rpy="0 0 0"/>
      <geometry>
        <box size="0.05855000019073486 0.042399998754262924 0.10495000332593918"/>
      </geometry>
    </collision>
    <inertial>
      <origin xyz="0.010187905578010790844 -0.0056188467228509330134 0.038815928333491456215" rpy="0 0 0"/>
      <mass value="0.14548965119785964295"/>
      <inertia ixx="7.094204959486465924e-05" ixy="1.1158758975158450794e-06" ixz="7.6515558781284838565e-06" iyy="8.5157398802913054328e-05" iyz="1.0699337399071725082e-06" izz="4.0945306935231742525e-05"/>
    </inertial>
  </link>
  <link name="spur_gear_18_teeth_2">
    <visual>
      <origin xyz="0 0 0" rpy="0 -0 0"/>
      <geometry>
        <mesh filename="../assemblies/right_leg_reorder/meshes/right_spur_gear_18_teeth_visual.stl"/>
      </geometry>
      <material name="spur_gear_18_teeth_material">
        <color rgba="0.61568627450980395466 0.81176470588235294379 0.92941176470588238168 1.0"/>
      </material>
    </visual>
    <inertial>
      <origin xyz="-1.2350917852414122165e-14 -3.7635296765399104409e-13 0.0017500000000010207044" rpy="0 0 0"/>
      <mass value="0.0011999999999999998949"/>
      <inertia ixx="2.936789981067607588e-08" ixy="0" ixz="1.8125485473072847388e-36" iyy="2.9367899814783318789e-08" iyz="0" izz="5.6306346207859581581e-08"/>
    </inertial>
  </link>
  <joint name="right_hip_yaw_drive" type="revolute">
    <origin xyz="0.019200000000000595063 0.00019999999999990858424 -3.9919456629178284857e-14" rpy="-3.1415926535897487071 -3.3583610398554125797e-13 4.6072104872475000824e-13"/>
    <parent link="right_hip_pitch_link"/>
    <child link="spur_gear_18_teeth_2"/>
    <axis xyz="0 0 1"/>
    <limit effort="1" velocity="20" lower="-1.8325957145940461324" upper="1.8325957145940461324"/>
    <joint_properties friction="0.0"/>
  </joint>
  <link name="right_calf_link">
    <visual>
      <origin xyz="0 0 0" rpy="0 -0 0"/>
      <geometry>
        <mesh filename="../assemblies/right_leg_reorder/meshes/right_calf_link_visual.stl"/>
      </geometry>
      <material name="right_calf_link_material">
        <color rgba="0.61568627450980395466 0.81176470588235294379 0.92941176470588238168 1.0"/>
      </material>
    </visual>
    <inertial>
      <origin xyz="-0.0043450054394400753482 -0.04075298216475804064 0.008711609351475196536" rpy="0 0 0"/>
      <mass value="0.030999999999999992839"/>
      <inertia ixx="3.3069388685437999941e-05" ixy="1.3783307152006436104e-06" ixz="-1.2742534017151547024e-07" iyy="7.7316525337494561228e-06" iyz="7.3356500737960487294e-08" izz="2.8031377754212211627e-05"/>
    </inertial>
  </link>
  <link name="bearing_683_5">
    <visual>
      <origin xyz="0 0 0" rpy="0 -0 0"/>
      <geometry>
        <mesh filename="../assemblies/right_leg_reorder/meshes/right_bearing_683_visual.stl"/>
      </geometry>
      <material name="bearing_683_material">
        <color rgba="0.64705882352941179736 0.64705882352941179736 0.64705882352941179736 1.0"/>
      </material>
    </visual>
    <inertial>
      <origin xyz="2.7862896558581290791e-17 -2.4186774283160221397e-19 -0.0015500000000000003792" rpy="0 0 0"/>
      <mass value="0.00048694686130641793437"/>
      <inertia ixx="2.1551456503319887385e-09" ixy="4.2598306438204978266e-28" ixz="-7.3234829304002240204e-39" iyy="2.1551456503319874977e-09" iyz="-2.4060933654183729714e-40" izz="3.5303647444715305817e-09"/>
    </inertial>
  </link>
  <joint name="right_knee_front_rev_2" type="revolute">
    <origin xyz="0.0057402514854766849284 -0.013858192987668827012 0.02619999999999997331" rpy="3.1415926535897904515 1.1270393647317458615e-14 1.5719696003976120213"/>
    <parent link="right_calf_link"/>
    <child link="bearing_683_5"/>
    <axis xyz="0 0 1"/>
    <limit effort="1" velocity="20"/>
    <joint_properties friction="0.0"/>
  </joint>
  <link name="bearing_683_6">
    <visual>
      <origin xyz="0 0 0" rpy="0 -0 0"/>
      <geometry>
        <mesh filename="../assemblies/right_leg_reorder/meshes/right_bearing_683_2_visual.stl"/>
      </geometry>
      <material name="bearing_683_2_material">
        <color rgba="0.64705882352941179736 0.64705882352941179736 0.64705882352941179736 1.0"/>
      </material>
    </visual>
    <inertial>
      <origin xyz="1.0732094295237784574e-19 -2.4186774283160235841e-19 -0.0015500000000000003792" rpy="0 0 0"/>
      <mass value="0.00048694686130641793437"/>
      <inertia ixx="2.1551456503319887385e-09" ixy="-1.1494962908747497034e-28" ixz="2.265476119271587224e-39" iyy="2.1551456503319891521e-09" iyz="1.489597402795983312e-40" izz="3.5303647444715305817e-09"/>
    </inertial>
  </link>
  <joint name="right_knee_back_rev_2" type="revolute">
    <origin xyz="-0.0057402514854761627766 0.013858192987670853169 0.026199999999999959432" rpy="3.1415926535897886751 4.04667926947700006e-15 1.5695900538857272544"/>
    <parent link="right_calf_link"/>
    <child link="bearing_683_6"/>
    <axis xyz="0 0 1"/>
    <limit effort="1" velocity="20"/>
    <joint_properties friction="0.0"/>
  </joint>
  <link name="right_ank_pitch_link">
    <visual>
      <origin xyz="0 0 0" rpy="0 -0 0"/>
      <geometry>
        <mesh filename="../assemblies/right_leg_reorder/meshes/right_ank_pitch_link_visual.stl"/>
      </geometry>
      <material name="right_ank_pitch_link_material">
        <color rgba="0.70321688500203349825 0.64514870846184457776 0.40484735422826251261 1.0"/>
      </material>
    </visual>
    <collision name="right_ank_pitch_link_collision">
      <origin xyz="-0.01934999879449606 0.012000001966953278 0.016799999633803964" rpy="0 0 0"/>
      <geometry>
        <box size="0.084799999371171 0.04650000482797623 0.046639998117461806"/>
      </geometry>
    </collision>
    <inertial>
      <origin xyz="-0.01777024188954268516 0.012301334508572285553 0.018814514831173675957" rpy="0 0 0"/>
      <mass value="0.1767637669506791076"/>
      <inertia ixx="4.7283381546857748841e-05" ixy="1.3380598207244262923e-06" ixz="6.1532628607417077641e-07" iyy="0.00010706462535917217807" iyz="-5.1080086246370357937e-08" izz="0.00012185522398303814907"/>
    </inertial>
  </link>
  <link name="ank_roll_link_2">
    <visual>
      <origin xyz="0 0 0" rpy="0 -0 0"/>
      <geometry>
        <mesh filename="../assemblies/right_leg_reorder/meshes/right_ank_roll_link_visual.stl"/>
      </geometry>
      <material name="ank_roll_link_material">
        <color rgba="0.61568627450980384364 0.81176470588235283277 0.92941176470588227065 1.0"/>
      </material>
    </visual>
    <collision name="ank_roll_link_2_collision">
      <origin xyz="-0.014500000514090061 0.0 0.038999998942017555" rpy="0 0 0"/>
      <geometry>
        <box size="0.04900000058114529 0.041999999433755875 0.12000000104308128"/>
      </geometry>
    </collision>
    <inertial>
      <origin xyz="-0.02700306651682201492 -2.005733932976729254e-12 0.033764011359896435593" rpy="0 0 0"/>
      <mass value="0.042600000000000012856"/>
      <inertia ixx="3.7284397827464680426e-05" ixy="-5.517453075479433163e-16" ixz="2.392918376808064086e-06" iyy="3.7589276943350409207e-05" iyz="5.0934854972587995505e-12" izz="1.0090430906786784418e-05"/>
    </inertial>
  </link>
  <joint name="right_ank_roll" type="revolute">
    <origin xyz="-0.022749999999990291877 -2.9976021664879226591e-15 0.018999999999999558908" rpy="1.570796326794811959 9.5680781580564777459e-14 1.5707963267948310548"/>
    <parent link="right_ank_pitch_link"/>
    <child link="ank_roll_link_2"/>
    <axis xyz="0 0 1"/>
    <limit effort="1" velocity="20" lower="-1.570796326794896558" upper="1.570796326794896558"/>
    <joint_properties friction="0.0"/>
  </joint>
  <joint name="right_ank_pitch" type="revolute">
    <origin xyz="7.9282998314407210272e-17 -0.10000000000000278111 0.027750000000000038525" rpy="-3.1415926535897851224 8.8042386588788376547e-15 3.1415926535897575889"/>
    <parent link="right_calf_link"/>
    <child link="right_ank_pitch_link"/>
    <axis xyz="0 0 1"/>
    <limit effort="1" velocity="20" lower="-0.785398163397448279" upper="1.7453292519943295336"/>
    <joint_properties friction="0.0"/>
  </joint>
  <joint name="right_knee" type="revolute">
    <origin xyz="4.491391864188864284e-17 -0.0087500000000000043021 0.085950000000000248424" rpy="-1.570796326794896558 -5.5569291725623875623e-17 -4.1442543841061995334e-15"/>
    <parent link="right_hip_pitch_link"/>
    <child link="right_calf_link"/>
    <axis xyz="0 0 1"/>
    <limit effort="1" velocity="20" lower="0" upper="2.0943951023931952626"/>
    <joint_properties friction="0.0"/>
  </joint>
  <link name="xm430_plate_2">
    <visual>
      <origin xyz="0 0 0" rpy="0 -0 0"/>
      <geometry>
        <mesh filename="../assemblies/right_leg_reorder/meshes/right_xm430_plate_visual.stl"/>
      </geometry>
      <material name="xm430_plate_material">
        <color rgba="0.61568627450980395466 0.81176470588235294379 0.92941176470588227065 1.0"/>
      </material>
    </visual>
    <inertial>
      <origin xyz="-9.7261304206861773257e-19 -2.9625680639399983914e-18 0.0025278513919583817798" rpy="0 0 0"/>
      <mass value="0.0026999999999999997093"/>
      <inertia ixx="2.4635091298412534083e-07" ixy="5.8739562556303546978e-08" ixz="1.6488528924539488391e-38" iyy="1.2887178787151819394e-07" iyz="-4.7671642829899821838e-37" izz="3.6467998413810316538e-07"/>
    </inertial>
  </link>
  <link name="knee_rod_3">
    <visual>
      <origin xyz="0 0 0" rpy="0 -0 0"/>
      <geometry>
        <mesh filename="../assemblies/right_leg_reorder/meshes/right_knee_rod_visual.stl"/>
      </geometry>
      <material name="knee_rod_material">
        <color rgba="0.62051618944235198416 0.78640765248647581664 0.88594253031295011613 1.0"/>
      </material>
    </visual>
    <inertial>
      <origin xyz="0.017534288777882725552 4.1145083530046676085e-05 -0.0015987301647632601396" rpy="0 0 0"/>
      <mass value="0.003162946861306418795"/>
      <inertia ixx="2.422520350903731932e-08" ixy="-4.1523452929273176848e-10" ixz="4.9178286424076687208e-10" iyy="8.1758850361951706548e-07" iyz="1.1539930294877956541e-12" izz="8.3704922659328214469e-07"/>
    </inertial>
  </link>
  <joint name="right_knee_front_rev_1" type="revolute">
    <origin xyz="0.0057402514854763518615 -0.013858192987669298857 0.0050000000000000044409" rpy="3.1415926535897922278 -2.0205656421608262662e-14 -1.5696230531921844253"/>
    <parent link="xm430_plate_2"/>
    <child link="knee_rod_3"/>
    <axis xyz="0 0 1"/>
    <limit effort="1" velocity="20"/>
    <joint_properties friction="0.0"/>
  </joint>
  <link name="knee_rod_4">
    <visual>
      <origin xyz="0 0 0" rpy="0 -0 0"/>
      <geometry>
        <mesh filename="../assemblies/right_leg_reorder/meshes/right_knee_rod_2_visual.stl"/>
      </geometry>
      <material name="knee_rod_2_material">
        <color rgba="0.62051618944235198416 0.78640765248647581664 0.88594253031295011613 1.0"/>
      </material>
    </visual>
    <inertial>
      <origin xyz="0.017534287401028952197 -4.230232304207548694e-05 -0.0015987301647633269264" rpy="0 0 0"/>
      <mass value="0.003162946861306418795"/>
      <inertia ixx="2.4225259089665888754e-08" ixy="4.2691331041381926747e-10" ixz="4.9178282562450544184e-10" iyy="8.1758847582921140495e-07" iyz="-1.1864500382085723636e-12" izz="8.3704925438359458149e-07"/>
    </inertial>
  </link>
  <joint name="right_knee_back_rev_1" type="revolute">
    <origin xyz="-0.0057402514854763492594 0.013858192987669271101 0.004999999999999997502" rpy="3.1415926535897922278 -1.388398626480973237e-14 -1.5720025997040691923"/>
    <parent link="xm430_plate_2"/>
    <child link="knee_rod_4"/>
    <axis xyz="0 0 1"/>
    <limit effort="1" velocity="20"/>
    <joint_properties friction="0.0"/>
  </joint>
  <joint name="right_knee_act" type="revolute">
    <origin xyz="-3.4410939121567419255e-17 0.01245000000000000967 0.044500000000000088096" rpy="-1.5707963267949061059 2.6644771186035749771e-15 -1.0609561628018721089e-15"/>
    <parent link="right_hip_pitch_link"/>
    <child link="xm430_plate_2"/>
    <axis xyz="0 0 1"/>
    <limit effort="1" velocity="20" lower="0" upper="2.0943951023931952626"/>
    <joint_properties friction="0.0"/>
  </joint>
  <joint name="right_hip_yaw_driven" type="revolute">
    <origin xyz="-1.204861457474966044e-19 -6.9388939039072283776e-18 -0.0050000000000000113798" rpy="3.141592653589793116 -9.4994925477120343739e-16 4.2299644928409957938e-30"/>
    <parent link="spur_gear_21_teeth_2"/>
    <child link="right_hip_pitch_link"/>
    <axis xyz="0 0 1"/>
    <limit effort="1" velocity="20" lower="-1.570796326794896558" upper="1.570796326794896558"/>
    <joint_properties friction="0.0"/>
  </joint>
  <joint name="right_hip_yaw_fixed" type="fixed">
    <origin xyz="-6.9388939039072283776e-18 -0.027999999999999979766 -0.018999999999999999528" rpy="-1.570796326794896558 1.5707963267948956698 0"/>
    <parent link="hip_yaw_link_2"/>
    <child link="spur_gear_21_teeth_2"/>
    <axis xyz="0 0 1"/>
    <limit effort="1" velocity="20"/>
    <joint_properties friction="0.0"/>
  </joint>
  <joint name="right_hip_roll" type="revolute">
    <origin xyz="-0.024000000716140008905 0.019000000152447762275 0.019000000152447762275" rpy="-1.570796326794896558 -1.5707963267948898967 0"/>
    <parent link="2xc430_2"/>
    <child link="hip_yaw_link_2"/>
    <axis xyz="0 0 1"/>
    <limit effort="1" velocity="20" lower="-0.785398163397448279" upper="0.785398163397448279"/>
    <joint_properties friction="0.0"/>
  </joint>
  <link name="sho_pitch_link">
    <visual>
      <origin xyz="0 0 0" rpy="0 -0 0"/>
      <geometry>
        <mesh filename="../assemblies/left_arm_gripper/meshes/left_sho_pitch_link_visual.stl"/>
      </geometry>
      <material name="sho_pitch_link_material">
        <color rgba="0.61568627450980395466 0.81176470588235294379 0.92941176470588227065 1.0"/>
      </material>
    </visual>
    <inertial>
      <origin xyz="-1.0259034381598989264e-18 -2.1966078074444170109e-18 0.012913250798677557499" rpy="0 0 0"/>
      <mass value="0.0085999999999999982708"/>
      <inertia ixx="1.8365636406635683089e-06" ixy="1.0387514045979628457e-20" ixz="-1.6193093852519860617e-61" iyy="4.0110869076838864174e-06" iyz="-1.0800914119377960692e-46" izz="3.516051645049224817e-06"/>
    </inertial>
  </link>
  <link name="2xl430_gears">
    <visual>
      <origin xyz="0 0 0" rpy="0 -0 0"/>
      <geometry>
        <mesh filename="../assemblies/left_arm_gripper/meshes/left_2xl430_gears_visual.stl"/>
      </geometry>
      <material name="2xl430_gears_material">
        <color rgba="0.75914767920569214965 0.85560384745670925444 0.90519468321360607721 1.0"/>
      </material>
    </visual>
    <collision name="2xl430_gears_collision">
      <origin xyz="-0.011708026928918836 -0.002663535856676101 -0.019869323293851236" rpy="0 0 0"/>
      <geometry>
        <sphere radius="0.031174687859299187"/>
      </geometry>
    </collision>
    <inertial>
      <origin xyz="-0.011592905737984531694 -0.0024238553642513625125 -0.018551095523807990123" rpy="0 0 0"/>
      <mass value="0.11800003674524911501"/>
      <inertia ixx="2.751102105042718034e-05" ixy="9.0043904315212092764e-07" ixz="-2.3349710123078761822e-08" iyy="3.2796197843348192627e-05" iyz="-6.57151196549046044e-07" izz="3.5775739835743546827e-05"/>
    </inertial>
  </link>
  <link name="spur_1m_24t_drive">
    <visual>
      <origin xyz="0 0 0" rpy="0 -0 0"/>
      <geometry>
        <mesh filename="../assemblies/left_arm_gripper/meshes/left_spur_1m_24t_drive_visual.stl"/>
      </geometry>
      <material name="spur_1m_24t_drive_material">
        <color rgba="0.61568627450980395466 0.81176470588235294379 0.92941176470588238168 1.0"/>
      </material>
    </visual>
    <inertial>
      <origin xyz="3.0326032612408354263e-15 -3.3912620816558811906e-16 0.0048096451474093065287" rpy="0 0 0"/>
      <mass value="0.0031999999999999997197"/>
      <inertia ixx="1.4097598887016958673e-07" ixy="1.556282310200251252e-15" ixz="-1.9054826560744749536e-36" iyy="1.4097598803635998845e-07" iyz="-1.0410230873183347628e-35" izz="2.4107776386988835496e-07"/>
    </inertial>
  </link>
  <joint name="left_sho_yaw_drive" type="revolute">
    <origin xyz="-0.024000000716142999568 -0.019000000152452855423 -0.019000000152454149527" rpy="1.5707963267951641217 1.7852935519577563101e-13 1.662194559181264057e-13"/>
    <parent link="2xl430_gears"/>
    <child link="spur_1m_24t_drive"/>
    <axis xyz="0 0 1"/>
    <limit effort="1" velocity="20" lower="-2.6179938779914944114" upper="2.6179938779914944114"/>
    <joint_properties friction="0.0"/>
  </joint>
  <link name="spur_1m_24t_driven">
    <visual>
      <origin xyz="0 0 0" rpy="0 -0 0"/>
      <geometry>
        <mesh filename="../assemblies/left_arm_gripper/meshes/left_spur_1m_24t_driven_visual.stl"/>
      </geometry>
      <material name="spur_1m_24t_driven_material">
        <color rgba="0.23137254901960788156 0.38039215686274502337 0.7058823529411765163 1.0"/>
      </material>
    </visual>
    <inertial>
      <origin xyz="-2.690304390834019776e-18 -1.6883842059581390828e-15 -0.00097237500038395777158" rpy="0 0 0"/>
      <mass value="0.0026999999999999997093"/>
      <inertia ixx="1.2202334915684080498e-07" ixy="0" ixz="0" iyy="1.2202334915684064616e-07" iyz="9.0098026086481821834e-37" izz="2.3180293204341252239e-07"/>
    </inertial>
  </link>
  <link name="sho_yaw_link">
    <visual>
      <origin xyz="0 0 0" rpy="0 -0 0"/>
      <geometry>
        <mesh filename="../assemblies/left_arm_gripper/meshes/left_sho_yaw_link_visual.stl"/>
      </geometry>
      <material name="sho_yaw_link_material">
        <color rgba="0.61568627450980395466 0.81176470588235294379 0.92941176470588238168 1.0"/>
      </material>
    </visual>
    <inertial>
      <origin xyz="-4.7730210054626242047e-18 2.6069328434151166727e-18 -0.024649285094360075254" rpy="0 0 0"/>
      <mass value="0.014500000000000007674"/>
      <inertia ixx="9.2365904614004439553e-06" ixy="3.5862833440690451918e-13" ixz="1.4405210395321376036e-34" iyy="5.8163826335078791714e-06" iyz="7.6091566349163998504e-35" izz="4.5074356741562122031e-06"/>
    </inertial>
  </link>
  <link name="2xl430_gears_2">
    <visual>
      <origin xyz="0 0 0" rpy="0 -0 0"/>
      <geometry>
        <mesh filename="../assemblies/left_arm_gripper/meshes/left_2xl430_gears_2_visual.stl"/>
      </geometry>
      <material name="2xl430_gears_2_material">
        <color rgba="0.75914767920569214965 0.85560384745670925444 0.90519468321360607721 1.0"/>
      </material>
    </visual>
    <collision name="2xl430_gears_2_collision">
      <origin xyz="-0.011708511453562371 -0.0026636956489096437 -0.019869671274007863" rpy="0 0 0"/>
      <geometry>
        <sphere radius="0.031174628050041016"/>
      </geometry>
    </collision>
    <inertial>
      <origin xyz="-0.01159290573798443455 -0.0024238553642578907106 -0.018551095523808416865" rpy="0 0 0"/>
      <mass value="0.11800003674524911501"/>
      <inertia ixx="2.7511021050432377734e-05" ixy="9.0043904315196200308e-07" ixz="-2.3349710123606006745e-08" iyy="3.2796197843347941905e-05" iyz="-6.5715119654818365858e-07" izz="3.5775739835749293099e-05"/>
    </inertial>
  </link>
  <link name="spur_1m_24t_drive_2">
    <visual>
      <origin xyz="0 0 0" rpy="0 -0 0"/>
      <geometry>
        <mesh filename="../assemblies/left_arm_gripper/meshes/left_spur_1m_24t_drive_2_visual.stl"/>
      </geometry>
      <material name="spur_1m_24t_drive_2_material">
        <color rgba="0.61568627450980395466 0.81176470588235294379 0.92941176470588238168 1.0"/>
      </material>
    </visual>
    <inertial>
      <origin xyz="3.0326032612408362152e-15 -3.3912620813973872492e-16 0.0048096451474092995898" rpy="0 0 0"/>
      <mass value="0.0031999999999999997197"/>
      <inertia ixx="1.409759888701696132e-07" ixy="1.5562823122431795239e-15" ixz="1.716313347270729479e-36" iyy="1.4097598803636004139e-07" iyz="4.0918007442501279481e-37" izz="2.4107776386988835496e-07"/>
    </inertial>
  </link>
  <joint name="left_elbow_yaw_drive" type="revolute">
    <origin xyz="-0.024000000716145834107 -0.019000000152458659808 -0.01900000015244798085" rpy="1.5707963267947213648 5.6483017330373295891e-14 4.6978620126247880643e-14"/>
    <parent link="2xl430_gears_2"/>
    <child link="spur_1m_24t_drive_2"/>
    <axis xyz="0 0 1"/>
    <limit effort="1" velocity="20" lower="-2.6179938779914944114" upper="2.6179938779914944114"/>
    <joint_properties friction="0.0"/>
  </joint>
  <link name="spur_1m_24t_driven_2">
    <visual>
      <origin xyz="0 0 0" rpy="0 -0 0"/>
      <geometry>
        <mesh filename="../assemblies/left_arm_gripper/meshes/left_spur_1m_24t_driven_2_visual.stl"/>
      </geometry>
      <material name="spur_1m_24t_driven_2_material">
        <color rgba="0.23137254901960788156 0.38039215686274502337 0.7058823529411765163 1.0"/>
      </material>
    </visual>
    <inertial>
      <origin xyz="-6.1597513427876451353e-18 -1.6883842059581483519e-15 -0.00097237500038396124102" rpy="0 0 0"/>
      <mass value="0.0026999999999999997093"/>
      <inertia ixx="1.2202334915684080498e-07" ixy="-5.001952331184614871e-40" ixz="-5.4479807872574103124e-38" iyy="1.2202334915684064616e-07" iyz="-1.9538097176800387152e-36" izz="2.3180293204341262827e-07"/>
    </inertial>
  </link>
  <link name="elb_yaw_link">
    <visual>
      <origin xyz="0 0 0" rpy="0 -0 0"/>
      <geometry>
        <mesh filename="../assemblies/left_arm_gripper/meshes/left_elb_yaw_link_visual.stl"/>
      </geometry>
      <material name="elb_yaw_link_material">
        <color rgba="0.61568627450980395466 0.81176470588235294379 0.92941176470588227065 1.0"/>
      </material>
    </visual>
    <inertial>
      <origin xyz="5.3127688027774929136e-08 0.0019833638641961648559 -0.023416643551549924662" rpy="0 0 0"/>
      <mass value="0.017500000000000005135"/>
      <inertia ixx="1.4134344903109199776e-05" ixy="1.6945783922006116668e-12" ixz="-1.1286398721833140765e-11" iyy="6.6435900776211340404e-06" iyz="1.0545227077253051227e-06" izz="8.9925290757998993713e-06"/>
    </inertial>
  </link>
  <link name="spur_1m_24t_driven_3">
    <visual>
      <origin xyz="0 0 0" rpy="0 -0 0"/>
      <geometry>
        <mesh filename="../assemblies/left_arm_gripper/meshes/left_spur_1m_24t_driven_3_visual.stl"/>
      </geometry>
      <material name="spur_1m_24t_driven_3_material">
        <color rgba="0.23137254901960788156 0.38039215686274502337 0.7058823529411765163 1.0"/>
      </material>
    </visual>
    <inertial>
      <origin xyz="-2.690304390834019776e-18 -1.6883842059581294192e-15 -0.0025723750003839550293" rpy="0 0 0"/>
      <mass value="0.0026999999999999997093"/>
      <inertia ixx="1.2202334915684080498e-07" ixy="-2.0478496606109072234e-37" ixz="0" iyy="1.2202334915684064616e-07" iyz="0" izz="2.3180293204341252239e-07"/>
    </inertial>
  </link>
  <link name="2xl430_gears_3">
    <visual>
      <origin xyz="0 0 0" rpy="0 -0 0"/>
      <geometry>
        <mesh filename="../assemblies/left_arm_gripper/meshes/left_2xl430_gears_3_visual.stl"/>
      </geometry>
      <material name="2xl430_gears_3_material">
        <color rgba="0.75914767920569214965 0.85560384745670925444 0.90519468321360607721 1.0"/>
      </material>
    </visual>
    <collision name="2xl430_gears_3_collision">
      <origin xyz="-0.0008536254376339838 0.011718714468016027 -0.02433707854457953" rpy="0 0 0"/>
      <geometry>
        <sphere radius="0.031160574725534962"/>
      </geometry>
    </collision>
    <inertial>
      <origin xyz="0.00044890447619466358623 0.011592905379906717767 -0.024576144788201054192" rpy="0 0 0"/>
      <mass value="0.11800003674524911501"/>
      <inertia ixx="3.5775739835742191575e-05" ixy="2.3349710124490282672e-08" ixz="6.5715119654859785769e-07" iyy="2.7511021050427132906e-05" iyz="9.0043904314985839676e-07" izz="3.2796197843347379476e-05"/>
    </inertial>
  </link>
  <link name="spur_1m_24t_drive_3">
    <visual>
      <origin xyz="0 0 0" rpy="0 -0 0"/>
      <geometry>
        <mesh filename="../assemblies/left_arm_gripper/meshes/left_spur_1m_24t_drive_3_visual.stl"/>
      </geometry>
      <material name="spur_1m_24t_drive_3_material">
        <color rgba="0.61568627450980395466 0.81176470588235294379 0.92941176470588238168 1.0"/>
      </material>
    </visual>
    <inertial>
      <origin xyz="3.0326032612408354263e-15 -3.3912620813973867561e-16 0.0048096451474093065287" rpy="0 0 0"/>
      <mass value="0.0031999999999999997197"/>
      <inertia ixx="1.4097598887016958673e-07" ixy="1.5562823102285579479e-15" ixz="1.2360023079066387479e-35" iyy="1.4097598803635998845e-07" iyz="1.4333673239442395638e-36" izz="2.4107776386988835496e-07"/>
    </inertial>
  </link>
  <joint name="left_wrist_pitch_drive" type="revolute">
    <origin xyz="-1.524451905139367785e-10 0.024000000358071232887 -0.0080000000000054836274" rpy="4.16271708357995742e-14 -1.9270925058949600393e-13 -1.5707963267948177322"/>
    <parent link="2xl430_gears_3"/>
    <child link="spur_1m_24t_drive_3"/>
    <axis xyz="0 0 1"/>
    <limit effort="1" velocity="20" lower="-1.9198621771937625091" upper="1.3962634015954635824"/>
    <joint_properties friction="0.0"/>
  </joint>
  <link name="left_gripper_connector">
    <visual>
      <origin xyz="0 0 0" rpy="0 -0 0"/>
      <geometry>
        <mesh filename="../assemblies/left_arm_gripper/meshes/left_gripper_connector_visual.stl"/>
      </geometry>
      <material name="left_gripper_connector_material">
        <color rgba="0.61568627450980395466 0.81176470588235294379 0.92941176470588238168 1.0"/>
      </material>
    </visual>
    <inertial>
      <origin xyz="-0.00018842170188954616267 -0.022508162473387265112 -0.010896047477464285841" rpy="0 0 0"/>
      <mass value="0.0099999999999999984734"/>
      <inertia ixx="5.9456375734536684232e-06" ixy="-2.447905549188665837e-08" ixz="-4.0329437936864239347e-08" iyy="4.2603724874314037743e-06" iyz="4.5852612749762338286e-07" izz="2.466963252804713858e-06"/>
    </inertial>
    <collision name="left_gripper_connector_collision">
      <geometry>
        <box size="0.024999999441206455 0.04750000033527613 0.0669999998062849"/>
      </geometry>
      <origin xyz="-0.001999999862164259 -0.013250000309199095 -0.008499999530613422" rpy="0 0 0"/>
    </collision>
  </link>
  <link name="left_rail_guide">
    <visual>
      <origin xyz="0 0 0" rpy="0 -0 0"/>
      <geometry>
        <mesh filename="../assemblies/left_arm_gripper/meshes/left_rail_guide_visual.stl"/>
      </geometry>
      <material name="left_rail_guide_material">
        <color rgba="0.63181718041513323936 0.80465605329635414567 0.89972875975946797755 1.0"/>
      </material>
    </visual>
    <collision name="left_rail_guide_collision">
      <origin xyz="0.017000000923871994 0.0029250001534819603 0.008150000125169754" rpy="0 0 0"/>
      <geometry>
        <box size="0.09000000357627869 0.04934999905526638 0.018149999901652336"/>
      </geometry>
    </collision>
    <inertial>
      <origin xyz="0.010819518839780871769 0.0021116106205359614668 -7.687170986491803019e-05" rpy="0 0 0"/>
      <mass value="0.031121017612416666809"/>
      <inertia ixx="7.8532725551086577254e-06" ixy="2.0671876731375220984e-06" ixz="4.0098876287871823871e-06" iyy="2.7330594711584456634e-05" iyz="-8.9062740055665011471e-07" izz="3.0532648647413090004e-05"/>
    </inertial>
  </link>
  <link name="rail">
    <visual>
      <origin xyz="0 0 0" rpy="0 -0 0"/>
      <geometry>
        <mesh filename="../assemblies/left_arm_gripper/meshes/left_rail_visual.stl"/>
      </geometry>
      <material name="rail_material">
        <color rgba="0.64705882352941179736 0.64705882352941179736 0.64705882352941179736 1.0"/>
      </material>
    </visual>
    <collision name="rail_collision">
      <origin xyz="0 0 0" rpy="0 -0 0"/>
      <geometry>
        <mesh filename="../assemblies/left_arm_gripper/meshes/left_rail_visual.stl"/>
      </geometry>
    </collision>
    <inertial>
      <origin xyz="0.029506549511750319176 -0.015932823905721996138 -0.010527873318605746045" rpy="0 0 0"/>
      <mass value="0.017100000000000007555"/>
      <inertia ixx="3.6539450928192396354e-06" ixy="2.1092288739438398891e-08" ixz="-1.1722367407071777491e-07" iyy="4.7510522653474580835e-06" iyz="3.1475054982591100515e-08" izz="6.1158569967957946884e-06"/>
    </inertial>
  </link>
  <joint name="left_gripper_pinion" type="prismatic">
    <origin xyz="-0.028872600000000029491 -0.015974999999999992678 -0.0053500000000000491607" rpy="3.1415926535897926719 1.5707963267948954478 0"/>
    <parent link="left_rail_guide"/>
    <child link="rail"/>
    <axis xyz="0 0 1"/>
    <limit effort="1" velocity="20" lower="-0.025000000000000001388" upper="0"/>
    <joint_properties friction="0.0"/>
  </joint>
  <link name="rail_2">
    <visual>
      <origin xyz="0 0 0" rpy="0 -0 0"/>
      <geometry>
        <mesh filename="../assemblies/left_arm_gripper/meshes/left_rail_2_visual.stl"/>
      </geometry>
      <material name="rail_2_material">
        <color rgba="0.64705882352941179736 0.64705882352941179736 0.64705882352941179736 1.0"/>
      </material>
    </visual>
    <collision name="rail_2_collision">
      <origin xyz="0 0 0" rpy="0 -0 0"/>
      <geometry>
        <mesh filename="../assemblies/left_arm_gripper/meshes/left_rail_2_visual.stl"/>
      </geometry>
    </collision>
    <inertial>
      <origin xyz="0.029506549511750343462 -0.015932823905721999608 -0.010527873318605732167" rpy="0 0 0"/>
      <mass value="0.017100000000000007555"/>
      <inertia ixx="3.6539450928192396354e-06" ixy="2.1092288739438398891e-08" ixz="-1.1722367407071777491e-07" iyy="4.7510522653474580835e-06" iyz="3.1475054982591100515e-08" izz="6.1158569967957946884e-06"/>
    </inertial>
  </link>
  <joint name="left_gripper_pinion_mirror" type="prismatic">
    <origin xyz="0.062872600000000042342 0.015974999999999996148 -0.0053500000000000214051" rpy="-3.4217842105774686555e-16 1.5707963267948954478 0"/>
    <parent link="left_rail_guide"/>
    <child link="rail_2"/>
    <axis xyz="0 0 1"/>
    <limit effort="1" velocity="20" lower="-0.025000000000000001388" upper="0"/>
    <joint_properties friction="0.0"/>
  </joint>
  <link name="xc330">
    <visual>
      <origin xyz="0 0 0" rpy="0 -0 0"/>
      <geometry>
        <mesh filename="../assemblies/left_arm_gripper/meshes/left_xc330_visual.stl"/>
      </geometry>
      <material name="xc330_material">
        <color rgba="0.66932535752643762539 0.72911795671409951325 0.67547870389434383487 1.0"/>
      </material>
    </visual>
    <inertial>
      <origin xyz="0.0080045171539642415853 -0.015558009851635253018 -0.011717805512818375846" rpy="0 0 0"/>
      <mass value="0.026599999993091760775"/>
      <inertia ixx="3.8683410666514144775e-06" ixy="-7.7688424002195035071e-10" ixz="5.7969695836943880499e-10" iyy="2.1626767907494822169e-06" iyz="8.3590274790330918056e-09" izz="3.3158761130055984099e-06"/>
    </inertial>
  </link>
  <link name="spur_gear_(18_teeth)">
    <visual>
      <origin xyz="0 0 0" rpy="0 -0 0"/>
      <geometry>
        <mesh filename="../assemblies/left_arm_gripper/meshes/left_spur_gear_(18_teeth)_visual.stl"/>
      </geometry>
      <material name="spur_gear_(18_teeth)_material">
        <color rgba="0.9176470588235294823 0.9176470588235294823 0.9176470588235294823 1.0"/>
      </material>
    </visual>
    <inertial>
      <origin xyz="5.7245874707234634116e-17 -3.8163916471489756077e-17 -0.0025000000000000078583" rpy="0 0 0"/>
      <mass value="0.0012999999999999997235"/>
      <inertia ixx="3.3282842836137718203e-08" ixy="-1.6173796229465777701e-22" ixz="2.3031319583818275503e-37" iyy="3.3282842836137460123e-08" iyz="-1.5027956260699347386e-36" izz="6.1149428795799502273e-08"/>
    </inertial>
  </link>
  <joint name="left_gripper_rack" type="revolute">
    <origin xyz="0.008000000000000003636 -0.022500000000000002637 -0.026000000000000023093" rpy="8.0274485715290161319e-27 -6.1232339957378667434e-17 -3.141592653589793116"/>
    <parent link="xc330"/>
    <child link="spur_gear_(18_teeth)"/>
    <axis xyz="0 0 1"/>
    <limit effort="1" velocity="20" lower="0" upper="2.7052603405912107881"/>
    <joint_properties friction="0.0"/>
  </joint>
  <joint name="left_gripper_motor" type="fixed">
    <origin xyz="-0.021950000000000014638 0.022600000000000036726 0.023300000000000042899" rpy="-1.3739009929259842173e-15 2.7559334175823541618e-31 6.8285689592397465021e-30"/>
    <parent link="left_rail_guide"/>
    <child link="xc330"/>
    <axis xyz="0 0 1"/>
    <limit effort="1" velocity="20"/>
    <joint_properties friction="0.0"/>
  </joint>
  <joint name="left_gripper_fixed" type="fixed">
    <origin xyz="0 -0.037000000000000005107 -0.036000000000000004219" rpy="-1.5707963267948958919 -1.5707963267948961139 0"/>
    <parent link="left_gripper_connector"/>
    <child link="left_rail_guide"/>
    <axis xyz="0 0 1"/>
    <limit effort="1" velocity="20"/>
    <joint_properties friction="0.0"/>
  </joint>
  <joint name="left_wrist_roll" type="revolute">
    <origin xyz="0.019000000000005661666 -3.5807856679781480125e-10 -0.027000000152451263113" rpy="-2.8064031127489633951e-14 1.5707963267947580022 0"/>
    <parent link="2xl430_gears_3"/>
    <child link="left_gripper_connector"/>
    <axis xyz="0 0 1"/>
    <limit effort="1" velocity="20" lower="-1.9198621771937625091" upper="1.3962634015954635824"/>
    <joint_properties friction="0.0"/>
  </joint>
  <link name="wrist_bearing_plate">
    <visual>
      <origin xyz="0 0 0" rpy="0 -0 0"/>
      <geometry>
        <mesh filename="../assemblies/left_arm_gripper/meshes/left_wrist_bearing_plate_visual.stl"/>
      </geometry>
      <material name="wrist_bearing_plate_material">
        <color rgba="0.71932243125689054875 0.63128434304969727187 0.52422389360984933404 1.0"/>
      </material>
    </visual>
    <inertial>
      <origin xyz="-0.0075835583121500130949 -0.015499999999999980807 -0.0018386323705903353121" rpy="0 0 0"/>
      <mass value="0.0049000367468305557062"/>
      <inertia ixx="4.9707430109150118544e-07" ixy="1.1840168245471985606e-22" ixz="1.8100904820814018704e-08" iyy="7.1268523603538542471e-07" iyz="1.9408397704641965019e-23" izz="1.1919657811600104999e-06"/>
    </inertial>
  </link>
  <joint name="left_wrist_pitch_fixed" type="fixed">
    <origin xyz="0.015500000000000927966 -5.3013149425851224805e-15 -0.045000000000004647394" rpy="-1.3423748839779928189e-14 -1.2850831510036285405e-13 -1.5707963267947808728"/>
    <parent link="2xl430_gears_3"/>
    <child link="wrist_bearing_plate"/>
    <axis xyz="0 0 1"/>
    <limit effort="1" velocity="20"/>
    <joint_properties friction="0.0"/>
  </joint>
  <joint name="left_wrist_pitch_driven" type="revolute">
    <origin xyz="2.7755575615628913511e-17 -2.7218856673745791334e-26 -0.0015999999999999970409" rpy="1.4482204529901611002e-15 -3.5076854490550032472e-16 -1.570796326794896558"/>
    <parent link="spur_1m_24t_driven_3"/>
    <child link="2xl430_gears_3"/>
    <axis xyz="0 0 1"/>
    <limit effort="1" velocity="20" lower="-1.3962634015954635824" upper="1.9198621771937625091"/>
    <joint_properties friction="0.0"/>
  </joint>
  <joint name="left_wrist_roll_fixed" type="fixed">
    <origin xyz="-3.1491327336422791272e-27 -0.025299999999999996103 -0.052000000000000004552" rpy="1.570796326794896558 -1.570796326794896558 0"/>
    <parent link="elb_yaw_link"/>
    <child link="spur_1m_24t_driven_3"/>
    <axis xyz="0 0 1"/>
    <limit effort="1" velocity="20"/>
    <joint_properties friction="0.0"/>
  </joint>
  <joint name="left_elbow_yaw_fixed" type="fixed">
    <origin xyz="3.4694469519536141888e-18 -2.5312968726731826812e-26 0.0016000000000000041966" rpy="3.141592653589793116 9.0036945470132253747e-18 -1.570796326794896558"/>
    <parent link="spur_1m_24t_driven_2"/>
    <child link="elb_yaw_link"/>
    <axis xyz="0 0 1"/>
    <limit effort="1" velocity="20"/>
    <joint_properties friction="0.0"/>
  </joint>
  <joint name="left_elbow_yaw_driven" type="revolute">
    <origin xyz="-3.5806529269377662672e-10 -0.027000000152462802494 -0.019000000000002664063" rpy="1.5707963267946982722 1.4238795043810668594e-14 -3.1956956748115225826e-14"/>
    <parent link="2xl430_gears_2"/>
    <child link="spur_1m_24t_driven_2"/>
    <axis xyz="0 0 1"/>
    <limit effort="1" velocity="20" lower="-2.6179938779914944114" upper="2.6179938779914944114"/>
    <joint_properties friction="0.0"/>
  </joint>
  <joint name="left_elbow_roll" type="revolute">
    <origin xyz="0 -0.018999999999999999528 -0.058999999999999996891" rpy="1.570796326794896558 -1.5263566955096096865e-15 2.4483102557774331631e-15"/>
    <parent link="sho_yaw_link"/>
    <child link="2xl430_gears_2"/>
    <axis xyz="0 0 1"/>
    <limit effort="1" velocity="20" lower="-1.9198621771937625091" upper="2.4434609527920612138"/>
    <joint_properties friction="0.0"/>
  </joint>
  <joint name="left_sho_yaw_fixed" type="fixed">
    <origin xyz="0 2.4517796934269046912e-27 0.0015999999999999937883" rpy="-3.1415926535897908956 7.315399160866554694e-16 8.930518398153610412e-16"/>
    <parent link="spur_1m_24t_driven"/>
    <child link="sho_yaw_link"/>
    <axis xyz="0 0 1"/>
    <limit effort="1" velocity="20"/>
    <joint_properties friction="0.0"/>
  </joint>
  <joint name="left_sho_yaw_driven" type="revolute">
    <origin xyz="-3.5806378001490557494e-10 -0.027000000152455592983 -0.019000000000011431356" rpy="1.5707963267950484365 6.5054138685605535834e-14 8.4771249118856306737e-14"/>
    <parent link="2xl430_gears"/>
    <child link="spur_1m_24t_driven"/>
    <axis xyz="0 0 1"/>
    <limit effort="1" velocity="20" lower="-2.6179938779914944114" upper="2.6179938779914944114"/>
    <joint_properties friction="0.0"/>
  </joint>
  <joint name="left_sho_roll" type="revolute">
    <origin xyz="-0.018999999999999940548 -2.447003827555054701e-17 0.02699999999999990602" rpy="3.1415926535897913396 1.5707963267948359398 0"/>
    <parent link="sho_pitch_link"/>
    <child link="2xl430_gears"/>
    <axis xyz="0 0 1"/>
    <limit effort="1" velocity="20" lower="-1.570796326794896558" upper="0.34906585039886589561"/>
    <joint_properties friction="0.0"/>
  </joint>
  <link name="sho_pitch_link_2">
    <visual>
      <origin xyz="0 0 0" rpy="0 -0 0"/>
      <geometry>
        <mesh filename="../assemblies/right_arm_gripper/meshes/right_sho_pitch_link_visual.stl"/>
      </geometry>
      <material name="sho_pitch_link_material">
        <color rgba="0.61568627450980395466 0.81176470588235294379 0.92941176470588227065 1.0"/>
      </material>
    </visual>
    <inertial>
      <origin xyz="-1.025903438159899119e-18 -2.1966078074444220184e-18 0.012913250798677602602" rpy="0 0 0"/>
      <mass value="0.0085999999999999982708"/>
      <inertia ixx="1.8365636406635814379e-06" ixy="-6.8542962956938842179e-57" ixz="1.6528758011273076664e-97" iyy="4.0110869076839152165e-06" iyz="-2.646223959247617687e-46" izz="3.5160516450492493809e-06"/>
    </inertial>
  </link>
  <link name="2xl430_gears_4">
    <visual>
      <origin xyz="0 0 0" rpy="0 -0 0"/>
      <geometry>
        <mesh filename="../assemblies/right_arm_gripper/meshes/right_2xl430_gears_visual.stl"/>
      </geometry>
      <material name="2xl430_gears_material">
        <color rgba="0.75914767920569214965 0.85560384745670925444 0.90519468321360607721 1.0"/>
      </material>
    </visual>
    <collision name="2xl430_gears_4_collision">
      <origin xyz="-0.011709219243581995 -0.0026638515067311038 -0.019868176796393255" rpy="0 0 0"/>
      <geometry>
        <sphere radius="0.031173574395867855"/>
      </geometry>
    </collision>
    <inertial>
      <origin xyz="-0.011592905737969871546 -0.0024238553642591254 -0.018551095523801033882" rpy="0 0 0"/>
      <mass value="0.11800003674524911501"/>
      <inertia ixx="2.751102105042425977e-05" ixy="9.0043904315448986704e-07" ixz="-2.3349710125934950303e-08" iyy="3.2796197843344973902e-05" iyz="-6.5715119654550459924e-07" izz="3.5775739835741649474e-05"/>
    </inertial>
  </link>
  <link name="spur_1m_24t_drive_4">
    <visual>
      <origin xyz="0 0 0" rpy="0 -0 0"/>
      <geometry>
        <mesh filename="../assemblies/right_arm_gripper/meshes/right_spur_1m_24t_drive_visual.stl"/>
      </geometry>
      <material name="spur_1m_24t_drive_material">
        <color rgba="0.61568627450980395466 0.81176470588235294379 0.92941176470588238168 1.0"/>
      </material>
    </visual>
    <inertial>
      <origin xyz="3.025664367336928198e-15 -3.3912620811388908426e-16 0.0048096451474093030592" rpy="0 0 0"/>
      <mass value="0.0031999999999999997197"/>
      <inertia ixx="1.4097598887016953379e-07" ixy="1.5562823148030747737e-15" ixz="4.9083386733534559387e-37" iyy="1.4097598803635996198e-07" iyz="-7.8313401301702503952e-36" izz="2.4107776386988835496e-07"/>
    </inertial>
  </link>
  <joint name="right_sho_yaw_drive" type="revolute">
    <origin xyz="-0.024000000716125211714 -0.019000000152450634977 -0.019000000152443994456" rpy="1.5707963267945845853 -3.8878566106129928331e-13 1.4443043900105598763e-13"/>
    <parent link="2xl430_gears_4"/>
    <child link="spur_1m_24t_drive_4"/>
    <axis xyz="0 0 1"/>
    <limit effort="1" velocity="20" lower="-2.6179938779914944114" upper="2.6179938779914944114"/>
    <joint_properties friction="0.0"/>
  </joint>
  <link name="spur_1m_24t_driven_4">
    <visual>
      <origin xyz="0 0 0" rpy="0 -0 0"/>
      <geometry>
        <mesh filename="../assemblies/right_arm_gripper/meshes/right_spur_1m_24t_driven_visual.stl"/>
      </geometry>
      <material name="spur_1m_24t_driven_material">
        <color rgba="0.23137254901960788156 0.38039215686274502337 0.7058823529411765163 1.0"/>
      </material>
    </visual>
    <inertial>
      <origin xyz="-2.6903043908339046054e-18 -1.6883842059581375051e-15 -0.00097237500038395083268" rpy="0 0 0"/>
      <mass value="0.0026999999999999997093"/>
      <inertia ixx="1.2202334915684080498e-07" ixy="-7.5202695051617536346e-39" ixz="-9.7122964183136389045e-37" iyy="1.2202334915684064616e-07" iyz="3.0101263939299255992e-37" izz="2.3180293204341252239e-07"/>
    </inertial>
  </link>
  <link name="sho_yaw_link_2">
    <visual>
      <origin xyz="0 0 0" rpy="0 -0 0"/>
      <geometry>
        <mesh filename="../assemblies/right_arm_gripper/meshes/right_sho_yaw_link_visual.stl"/>
      </geometry>
      <material name="sho_yaw_link_material">
        <color rgba="0.61568627450980395466 0.81176470588235294379 0.92941176470588238168 1.0"/>
      </material>
    </visual>
    <inertial>
      <origin xyz="-1.3035740535095388763e-18 2.6069328434191253033e-18 -0.024649285094360089132" rpy="0 0 0"/>
      <mass value="0.014500000000000007674"/>
      <inertia ixx="9.2365904614004439553e-06" ixy="3.5862833440690451918e-13" ixz="1.4037596429692567889e-34" iyy="5.8163826335078791714e-06" iyz="7.2531504829235431359e-35" izz="4.5074356741562122031e-06"/>
    </inertial>
  </link>
  <link name="2xl430_gears_5">
    <visual>
      <origin xyz="0 0 0" rpy="0 -0 0"/>
      <geometry>
        <mesh filename="../assemblies/right_arm_gripper/meshes/right_2xl430_gears_2_visual.stl"/>
      </geometry>
      <material name="2xl430_gears_2_material">
        <color rgba="0.75914767920569214965 0.85560384745670925444 0.90519468321360607721 1.0"/>
      </material>
    </visual>
    <collision name="2xl430_gears_5_collision">
      <origin xyz="-0.011708026928918851 -0.0026635358566760997 -0.019869323293851254" rpy="0 0 0"/>
      <geometry>
        <sphere radius="0.031174687859299187"/>
      </geometry>
    </collision>
    <inertial>
      <origin xyz="-0.011592905737988172879 -0.0024238553642542321788 -0.018551095523808958099" rpy="0 0 0"/>
      <mass value="0.11800003674524911501"/>
      <inertia ixx="2.7511021050429741768e-05" ixy="9.0043904315108098294e-07" ixz="-2.3349710123756298845e-08" iyy="3.279619784334769796e-05" iyz="-6.5715119654782462249e-07" izz="3.5775739835745782994e-05"/>
    </inertial>
  </link>
  <link name="spur_1m_24t_drive_5">
    <visual>
      <origin xyz="0 0 0" rpy="0 -0 0"/>
      <geometry>
        <mesh filename="../assemblies/right_arm_gripper/meshes/right_spur_1m_24t_drive_2_visual.stl"/>
      </geometry>
      <material name="spur_1m_24t_drive_2_material">
        <color rgba="0.61568627450980395466 0.81176470588235294379 0.92941176470588238168 1.0"/>
      </material>
    </visual>
    <inertial>
      <origin xyz="3.0256643673369289868e-15 -3.3912620811388933077e-16 0.0048096451474092995898" rpy="0 0 0"/>
      <mass value="0.0031999999999999997197"/>
      <inertia ixx="1.409759888701696132e-07" ixy="1.5562823102285579479e-15" ixz="3.1864251529256819123e-36" iyy="1.4097598803635998845e-07" iyz="4.7831225418350163335e-36" izz="2.4107776386988835496e-07"/>
    </inertial>
  </link>
  <joint name="right_elbow_yaw_drive" type="revolute">
    <origin xyz="-0.024000000716151752983 -0.019000000152454232794 -0.019000000152451821528" rpy="1.5707963267948958919 1.7477870556672354404e-13 -9.1682387447092004362e-14"/>
    <parent link="2xl430_gears_5"/>
    <child link="spur_1m_24t_drive_5"/>
    <axis xyz="0 0 1"/>
    <limit effort="1" velocity="20" lower="-2.6179938779914944114" upper="2.6179938779914944114"/>
    <joint_properties friction="0.0"/>
  </joint>
  <link name="spur_1m_24t_driven_5">
    <visual>
      <origin xyz="0 0 0" rpy="0 -0 0"/>
      <geometry>
        <mesh filename="../assemblies/right_arm_gripper/meshes/right_spur_1m_24t_driven_2_visual.stl"/>
      </geometry>
      <material name="spur_1m_24t_driven_2_material">
        <color rgba="0.23137254901960788156 0.38039215686274502337 0.7058823529411765163 1.0"/>
      </material>
    </visual>
    <inertial>
      <origin xyz="-6.1597513427874779645e-18 -1.6883842059581355329e-15 -0.00097237500038395083268" rpy="0 0 0"/>
      <mass value="0.0026999999999999997093"/>
      <inertia ixx="1.2202334915684080498e-07" ixy="-9.6101422754722651111e-38" ixz="8.4623098523152896242e-37" iyy="1.2202334915684064616e-07" iyz="-3.9602970122970728784e-37" izz="2.3180293204341252239e-07"/>
    </inertial>
  </link>
  <link name="elb_yaw_link_2">
    <visual>
      <origin xyz="0 0 0" rpy="0 -0 0"/>
      <geometry>
        <mesh filename="../assemblies/right_arm_gripper/meshes/right_elb_yaw_link_visual.stl"/>
      </geometry>
      <material name="elb_yaw_link_material">
        <color rgba="0.61568627450980395466 0.81176470588235294379 0.92941176470588227065 1.0"/>
      </material>
    </visual>
    <inertial>
      <origin xyz="5.3127688027774929136e-08 0.0019833638641961683254 -0.02341664355154993854" rpy="0 0 0"/>
      <mass value="0.017500000000000005135"/>
      <inertia ixx="1.4134344903109199776e-05" ixy="1.6945783922006116668e-12" ixz="-1.1286398721833140765e-11" iyy="6.6435900776211340404e-06" iyz="1.0545227077253051227e-06" izz="8.9925290757998993713e-06"/>
    </inertial>
  </link>
  <link name="spur_1m_24t_driven_6">
    <visual>
      <origin xyz="0 0 0" rpy="0 -0 0"/>
      <geometry>
        <mesh filename="../assemblies/right_arm_gripper/meshes/right_spur_1m_24t_driven_3_visual.stl"/>
      </geometry>
      <material name="spur_1m_24t_driven_3_material">
        <color rgba="0.23137254901960788156 0.38039215686274502337 0.7058823529411765163 1.0"/>
      </material>
    </visual>
    <inertial>
      <origin xyz="-2.6903043908341965764e-18 -1.6883842059581323775e-15 -0.0025723750003839584988" rpy="0 0 0"/>
      <mass value="0.0026999999999999997093"/>
      <inertia ixx="1.2202334915684080498e-07" ixy="2.231932919232387326e-36" ixz="-3.589586999908922078e-36" iyy="1.2202334915684064616e-07" iyz="-8.4826237080281112215e-37" izz="2.3180293204341252239e-07"/>
    </inertial>
  </link>
  <link name="2xl430_gears_6">
    <visual>
      <origin xyz="0 0 0" rpy="0 -0 0"/>
      <geometry>
        <mesh filename="../assemblies/right_arm_gripper/meshes/right_2xl430_gears_3_visual.stl"/>
      </geometry>
      <material name="2xl430_gears_3_material">
        <color rgba="0.75914767920569214965 0.85560384745670925444 0.90519468321360607721 1.0"/>
      </material>
    </visual>
    <collision name="2xl430_gears_6_collision">
      <origin xyz="-0.0008536254376340079 0.011718714468016015 -0.02433707854457957" rpy="0 0 0"/>
      <geometry>
        <sphere radius="0.031160574725534962"/>
      </geometry>
    </collision>
    <inertial>
      <origin xyz="0.00044890447619794031624 0.011592905379918107961 -0.024576144788203212188" rpy="0 0 0"/>
      <mass value="0.11800003674524911501"/>
      <inertia ixx="3.577573983574401439e-05" ixy="2.3349710124509476571e-08" ixz="6.5715119654835825324e-07" iyy="2.7511021050427600468e-05" iyz="9.0043904315010996554e-07" izz="3.2796197843347650526e-05"/>
    </inertial>
  </link>
  <link name="spur_1m_24t_drive_6">
    <visual>
      <origin xyz="0 0 0" rpy="0 -0 0"/>
      <geometry>
        <mesh filename="../assemblies/right_arm_gripper/meshes/right_spur_1m_24t_drive_3_visual.stl"/>
      </geometry>
      <material name="spur_1m_24t_drive_3_material">
        <color rgba="0.61568627450980395466 0.81176470588235294379 0.92941176470588238168 1.0"/>
      </material>
    </visual>
    <inertial>
      <origin xyz="3.0326032612408362152e-15 -3.3912620811388938008e-16 0.0048096451474093030592" rpy="0 0 0"/>
      <mass value="0.0031999999999999997197"/>
      <inertia ixx="1.409759888701696132e-07" ixy="1.5562823122431795239e-15" ixz="-1.8572195602335046921e-36" iyy="1.4097598803636004139e-07" iyz="-5.1564949409002944743e-36" izz="2.4107776386988835496e-07"/>
    </inertial>
  </link>
  <joint name="right_wrist_pitch_drive" type="revolute">
    <origin xyz="-1.5244743462520761815e-10 0.024000000358078144025 -0.00800000000000324063" rpy="8.069763475456953763e-15 9.1324000374499454386e-14 -1.5707963267947369079"/>
    <parent link="2xl430_gears_6"/>
    <child link="spur_1m_24t_drive_6"/>
    <axis xyz="0 0 1"/>
    <limit effort="1" velocity="20" lower="-1.3962634015954635824" upper="1.9198621771937625091"/>
    <joint_properties friction="0.0"/>
  </joint>
  <link name="right_gripper_connector">
    <visual>
      <origin xyz="0 0 0" rpy="0 -0 0"/>
      <geometry>
        <mesh filename="../assemblies/right_arm_gripper/meshes/right_gripper_connector_visual.stl"/>
      </geometry>
      <material name="right_gripper_connector_material">
        <color rgba="0.61568627450980395466 0.81176470588235294379 0.9294117647058824927 1.0"/>
      </material>
    </visual>
    <inertial>
      <origin xyz="0.00018842172662807132877 0.02250816247592088773 -0.027103952515809076607" rpy="0 0 0"/>
      <mass value="0.011581129243776610779"/>
      <inertia ixx="6.8857197111200847309e-06" ixy="-2.8349511201291439477e-08" ixz="-4.6706046180876152983e-08" iyy="4.9339924371223853466e-06" iyz="5.3102503504137602422e-07" izz="2.857022023644606766e-06"/>
    </inertial>
    <collision name="right_gripper_connector_collision">
      <geometry>
        <box size="0.02499999850988388 0.04750000033527613 0.06700000120326877"/>
      </geometry>
      <origin xyz="0.001999998465180397 0.013250000309199095 -0.029500000411644578" rpy="0 0 0"/>
    </collision>
  </link>
  <link name="right_rail_guide">
    <visual>
      <origin xyz="0 0 0" rpy="0 -0 0"/>
      <geometry>
        <mesh filename="../assemblies/right_arm_gripper/meshes/right_rail_guide_visual.stl"/>
      </geometry>
      <material name="right_rail_guide_material">
        <color rgba="0.63183631947442864263 0.80464761899488645991 0.89969354135356638391 1.0"/>
      </material>
    </visual>
    <collision name="right_rail_guide_collision">
      <origin xyz="0.017000000923871994 -0.0029250001534819603 0.008150000125169754" rpy="0 0 0"/>
      <geometry>
        <box size="0.09000000357627869 0.04934999905526638 0.018149999901652336"/>
      </geometry>
    </collision>
    <inertial>
      <origin xyz="0.010819769137967559167 -0.0021113011985218642017 -7.7620928513507297724e-05" rpy="0 0 0"/>
      <mass value="0.031084136786219598164"/>
      <inertia ixx="7.8430666236070279329e-06" ixy="-2.064451767957415678e-06" ixz="4.0045882799668585674e-06" iyy="2.7294704119451739579e-05" iyz="8.8949075530050679409e-07" izz="3.0492488744516627947e-05"/>
    </inertial>
  </link>
  <link name="rail_3">
    <visual>
      <origin xyz="0 0 0" rpy="0 -0 0"/>
      <geometry>
        <mesh filename="../assemblies/right_arm_gripper/meshes/right_rail_visual.stl"/>
      </geometry>
      <material name="rail_material">
        <color rgba="0.64705882352941179736 0.64705882352941179736 0.64705882352941179736 1.0"/>
      </material>
    </visual>
    <collision name="rail_3_collision">
      <origin xyz="0 0 0" rpy="0 -0 0"/>
      <geometry>
        <mesh filename="../assemblies/right_arm_gripper/meshes/right_rail_visual.stl"/>
      </geometry>
    </collision>
    <inertial>
      <origin xyz="0.029506549511750319176 -0.015932823905721999608 -0.010527873318605746045" rpy="0 0 0"/>
      <mass value="0.017100000000000007555"/>
      <inertia ixx="3.6539450928192396354e-06" ixy="2.1092288739438398891e-08" ixz="-1.1722367407071777491e-07" iyy="4.7510522653474580835e-06" iyz="3.1475054982591100515e-08" izz="6.1158569967957946884e-06"/>
    </inertial>
  </link>
  <joint name="right_gripper_pinion" type="prismatic">
    <origin xyz="-0.028872600000004956106 -0.015974999999999985739 -0.0053500000000001324274" rpy="-3.141592653589793116 1.5707963267948954478 0"/>
    <parent link="right_rail_guide"/>
    <child link="rail_3"/>
    <axis xyz="0 0 1"/>
    <limit effort="1" velocity="20" lower="-0.025000000000000001388" upper="0"/>
    <joint_properties friction="0.0"/>
  </joint>
  <link name="rail_4">
    <visual>
      <origin xyz="0 0 0" rpy="0 -0 0"/>
      <geometry>
        <mesh filename="../assemblies/right_arm_gripper/meshes/right_rail_2_visual.stl"/>
      </geometry>
      <material name="rail_2_material">
        <color rgba="0.64705882352941179736 0.64705882352941179736 0.64705882352941179736 1.0"/>
      </material>
    </visual>
    <collision name="rail_4_collision">
      <origin xyz="0 0 0" rpy="0 -0 0"/>
      <geometry>
        <mesh filename="../assemblies/right_arm_gripper/meshes/right_rail_2_visual.stl"/>
      </geometry>
    </collision>
    <inertial>
      <origin xyz="0.029506549511750319176 -0.015932823905721999608 -0.010527873318605746045" rpy="0 0 0"/>
      <mass value="0.017100000000000007555"/>
      <inertia ixx="3.6539450928192396354e-06" ixy="2.1092288739438398891e-08" ixz="-1.1722367407071777491e-07" iyy="4.7510522653474580835e-06" iyz="3.1475054982591100515e-08" izz="6.1158569967957946884e-06"/>
    </inertial>
  </link>
  <joint name="right_gripper_pinion_mirror" type="prismatic">
    <origin xyz="0.062872599999991965469 0.015974999999999989209 -0.0053500000000001046718" rpy="-1.1102230245948772979e-15 1.570796326794896336 0"/>
    <parent link="right_rail_guide"/>
    <child link="rail_4"/>
    <axis xyz="0 0 1"/>
    <limit effort="1" velocity="20" lower="-0.025000000000000001388" upper="0"/>
    <joint_properties friction="0.0"/>
  </joint>
  <link name="xc330_2">
    <visual>
      <origin xyz="0 0 0" rpy="0 -0 0"/>
      <geometry>
        <mesh filename="../assemblies/right_arm_gripper/meshes/right_xc330_visual.stl"/>
      </geometry>
      <material name="xc330_material">
        <color rgba="0.66932535752643762539 0.72911795671409951325 0.67547870389434383487 1.0"/>
      </material>
    </visual>
    <inertial>
      <origin xyz="0.0080045171539642346464 -0.015558009851635244344 -0.011717805512818375846" rpy="0 0 0"/>
      <mass value="0.026599999993091760775"/>
      <inertia ixx="3.8683410666514153245e-06" ixy="-7.7688424002196544676e-10" ixz="5.7969695836940933668e-10" iyy="2.1626767907494822169e-06" iyz="8.3590274790334193691e-09" izz="3.3158761130055984099e-06"/>
    </inertial>
  </link>
  <link name="spur_gear_(18_teeth)_2">
    <visual>
      <origin xyz="0 0 0" rpy="0 -0 0"/>
      <geometry>
        <mesh filename="../assemblies/right_arm_gripper/meshes/right_spur_gear_(18_teeth)_visual.stl"/>
      </geometry>
      <material name="spur_gear_(18_teeth)_material">
        <color rgba="0.9176470588235294823 0.9176470588235294823 0.9176470588235294823 1.0"/>
      </material>
    </visual>
    <inertial>
      <origin xyz="5.898059818321144121e-17 -3.8163916471489756077e-17 -0.0025000000000000078583" rpy="0 0 0"/>
      <mass value="0.0012999999999999997235"/>
      <inertia ixx="3.3282842836137711586e-08" ixy="-1.6157412902963702173e-22" ixz="-1.6954054082600917368e-37" iyy="3.328284283613746674e-08" iyz="-1.2037569061826693386e-37" izz="6.1149428795799502273e-08"/>
    </inertial>
  </link>
  <joint name="right_gripper_rack" type="revolute">
    <origin xyz="0.0079999999999999966971 -0.022499999999999999167 -0.025999999999999995337" rpy="-1.9467615473171844649e-15 8.2694607974279207232e-16 -3.141592653589793116"/>
    <parent link="xc330_2"/>
    <child link="spur_gear_(18_teeth)_2"/>
    <axis xyz="0 0 1"/>
    <limit effort="1" velocity="20" lower="0" upper="2.7052603405912107881"/>
    <joint_properties friction="0.0"/>
  </joint>
  <joint name="right_gripper_motor" type="fixed">
    <origin xyz="-0.0059500000000000143052 -0.022599999999999970807 0.023299999999999904121" rpy="3.3306690735073560615e-16 5.4882416367019373586e-30 3.141592653589793116"/>
    <parent link="right_rail_guide"/>
    <child link="xc330_2"/>
    <axis xyz="0 0 1"/>
    <limit effort="1" velocity="20"/>
    <joint_properties friction="0.0"/>
  </joint>
  <joint name="right_gripper_fixed" type="fixed">
    <origin xyz="3.4694469519536141888e-18 0.036999999999999949596 -0.0019999999999999983069" rpy="1.57079632679489678 1.570796326794896558 0"/>
    <parent link="right_gripper_connector"/>
    <child link="right_rail_guide"/>
    <axis xyz="0 0 1"/>
    <limit effort="1" velocity="20"/>
    <joint_properties friction="0.0"/>
  </joint>
  <joint name="right_wrist_roll" type="revolute">
    <origin xyz="0.01900000000000664005 -3.580644114542508305e-10 -0.027000000152457920982" rpy="-3.141592653589678541 -1.5707963267947711028 0"/>
    <parent link="2xl430_gears_6"/>
    <child link="right_gripper_connector"/>
    <axis xyz="0 0 1"/>
    <limit effort="1" velocity="20" lower="-1.3962634015954635824" upper="1.9198621771937625091"/>
    <joint_properties friction="0.0"/>
  </joint>
  <link name="wrist_bearing_plate_2">
    <visual>
      <origin xyz="0 0 0" rpy="0 -0 0"/>
      <geometry>
        <mesh filename="../assemblies/right_arm_gripper/meshes/right_wrist_bearing_plate_visual.stl"/>
      </geometry>
      <material name="wrist_bearing_plate_material">
        <color rgba="0.71932243125689054875 0.63128434304969727187 0.52422389360984933404 1.0"/>
      </material>
    </visual>
    <inertial>
      <origin xyz="-0.0075835583121499862067 -0.015499999999999973868 -0.0018386323705903283732" rpy="0 0 0"/>
      <mass value="0.0049000367468305557062"/>
      <inertia ixx="4.9707430109150118544e-07" ixy="6.8935098125362983557e-23" ixz="1.8100904820814088187e-08" iyy="7.1268523603538553059e-07" iyz="8.3942214856969390033e-24" izz="1.1919657811600107117e-06"/>
    </inertial>
  </link>
  <joint name="right_wrist_pitch_fixed" type="fixed">
    <origin xyz="0.015500000000004515374 1.304512053934558935e-14 -0.045000000000009962586" rpy="3.9631081880071986636e-14 1.863648124711484177e-13 -1.5707963267947884223"/>
    <parent link="2xl430_gears_6"/>
    <child link="wrist_bearing_plate_2"/>
    <axis xyz="0 0 1"/>
    <limit effort="1" velocity="20"/>
    <joint_properties friction="0.0"/>
  </joint>
  <joint name="right_wrist_pitch_driven" type="revolute">
    <origin xyz="-2.7755575615628913511e-17 -3.1554436208840472216e-30 -0.0016000000000000002935" rpy="-1.1934897514294935042e-15 1.8375891793575620296e-15 1.570796326794896558"/>
    <parent link="spur_1m_24t_driven_6"/>
    <child link="2xl430_gears_6"/>
    <axis xyz="0 0 1"/>
    <limit effort="1" velocity="20" lower="-1.9198621771937625091" upper="1.3962634015954635824"/>
    <joint_properties friction="0.0"/>
  </joint>
  <joint name="right_wrist_roll_fixed" type="fixed">
    <origin xyz="3.1554436208840472216e-30 -0.025299999999999996103 -0.052000000000000046185" rpy="1.5707963267949101027 1.5707963267948952257 0"/>
    <parent link="elb_yaw_link_2"/>
    <child link="spur_1m_24t_driven_6"/>
    <axis xyz="0 0 1"/>
    <limit effort="1" velocity="20"/>
    <joint_properties friction="0.0"/>
  </joint>
  <joint name="right_elbow_yaw_fixed" type="fixed">
    <origin xyz="-3.4694469519536141888e-18 -3.1554436208840472216e-30 0.0016000000000000041966" rpy="3.1415926535897855665 1.5297616651876714591e-29 -1.570796326794896558"/>
    <parent link="spur_1m_24t_driven_5"/>
    <child link="elb_yaw_link_2"/>
    <axis xyz="0 0 1"/>
    <limit effort="1" velocity="20"/>
    <joint_properties friction="0.0"/>
  </joint>
  <joint name="right_elbow_yaw_driven" type="revolute">
    <origin xyz="-3.5807152728994928736e-10 -0.027000000152460734704 -0.019000000000000859951" rpy="1.570796326794971387 5.5367576271342058455e-14 -5.1702916183233091503e-14"/>
    <parent link="2xl430_gears_5"/>
    <child link="spur_1m_24t_driven_5"/>
    <axis xyz="0 0 1"/>
    <limit effort="1" velocity="20" lower="-2.6179938779914944114" upper="2.6179938779914944114"/>
    <joint_properties friction="0.0"/>
  </joint>
  <joint name="right_elbow_roll" type="revolute">
    <origin xyz="3.4694469519536141888e-18 -0.019000000000000002998 -0.059000000000000024647" rpy="1.570796326794896558 -2.6218732386441631156e-13 -7.7212919731057644387e-15"/>
    <parent link="sho_yaw_link_2"/>
    <child link="2xl430_gears_5"/>
    <axis xyz="0 0 1"/>
    <limit effort="1" velocity="20" lower="-1.9198621771937625091" upper="2.4434609527920612138"/>
    <joint_properties friction="0.0"/>
  </joint>
  <joint name="right_sho_yaw_fixed" type="fixed">
    <origin xyz="0 -4.7331654313260708325e-30 0.0016000000000000007272" rpy="-3.141592653589793116 1.7700066560927631275e-29 -1.0986951234488409468e-30"/>
    <parent link="spur_1m_24t_driven_4"/>
    <child link="sho_yaw_link_2"/>
    <axis xyz="0 0 1"/>
    <limit effort="1" velocity="20"/>
    <joint_properties friction="0.0"/>
  </joint>
  <joint name="right_sho_yaw_driven" type="revolute">
    <origin xyz="-3.5806386328163242183e-10 -0.027000000152443980744 -0.018999999999992155109" rpy="1.5707963267946665198 -2.3210543497560860027e-13 5.9014074947453606692e-14"/>
    <parent link="2xl430_gears_4"/>
    <child link="spur_1m_24t_driven_4"/>
    <axis xyz="0 0 1"/>
    <limit effort="1" velocity="20" lower="-2.6179938779914944114" upper="2.6179938779914944114"/>
    <joint_properties friction="0.0"/>
  </joint>
  <joint name="right_sho_roll" type="revolute">
    <origin xyz="-0.018999999999999996059 9.2807416730536686391e-18 0.027000000000000006634" rpy="-3.141592653589793116 1.5707963267947577801 0"/>
    <parent link="sho_pitch_link_2"/>
    <child link="2xl430_gears_4"/>
    <axis xyz="0 0 1"/>
    <limit effort="1" velocity="20" lower="-1.570796326794896558" upper="0.34906585039886589561"/>
    <joint_properties friction="0.0"/>
  </joint>
</robot>
